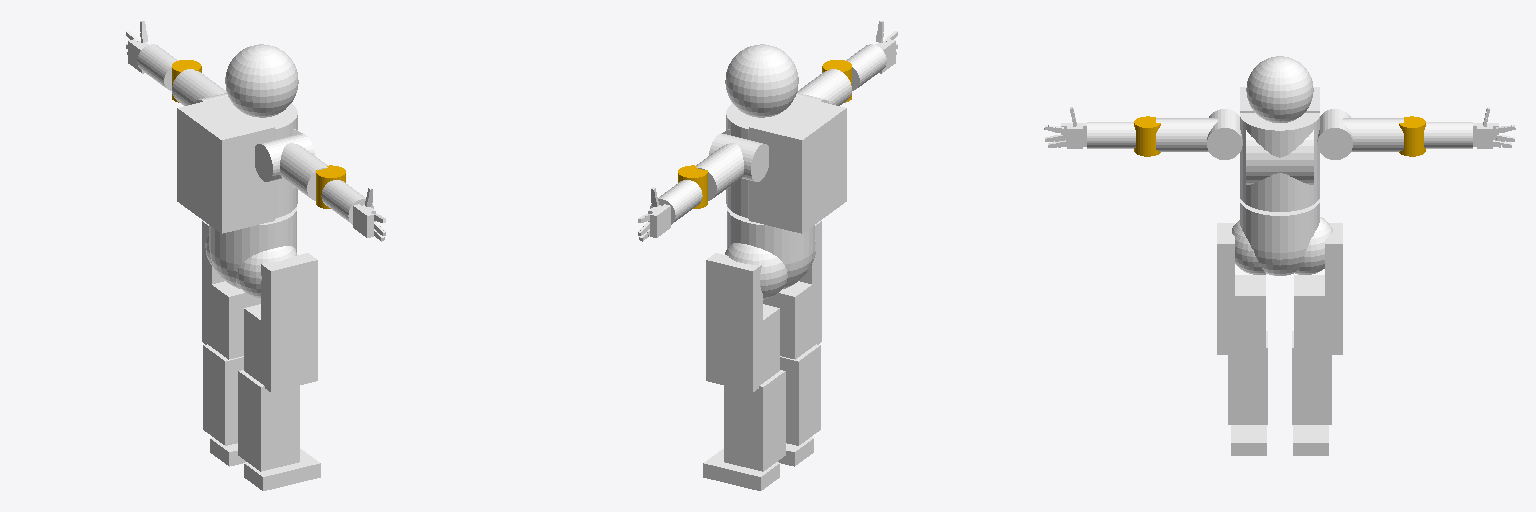
--- Render facts (derived) ---
3 views of the same robot in one strip: view 1: azimuth 30°, elevation 25°; view 2: azimuth 150°, elevation 25°; view 3: azimuth 270°, elevation 25° (orthographic).
Robot: valkyrie — 87 links, 86 joints (32 revolute, 1 continuous, 53 fixed); root link pelvis; default pose: all joints at 0.
Visible links, largest first — view 1: torso, rightHipPitchLink, rightKneePitchLink, upperNeckPitchLink, leftHipPitchLink, pelvis, leftKneePitchLink, rightFoot, rightShoulderPitchLink, rightHipYawLink, rightShoulderYawLink, rightForearmLink (+5 smaller); view 2: torso, leftHipPitchLink, leftKneePitchLink, upperNeckPitchLink, rightHipPitchLink, rightKneePitchLink, pelvis, leftHipYawLink, leftFoot, leftShoulderPitchLink, leftShoulderYawLink, leftForearmLink (+5 smaller); view 3: torso, rightHipPitchLink, leftHipPitchLink, pelvis, upperNeckPitchLink, rightKneePitchLink, leftKneePitchLink, rightShoulderPitchLink, leftShoulderPitchLink, rightShoulderYawLink, leftShoulderYawLink, rightForearmLink (+9 smaller).
Boxes of the visible links, x1,y1,x2,y2 form: torso: (177,96,301,233); rightHipPitchLink: (244,253,317,391); rightKneePitchLink: (238,370,299,471); upperNeckPitchLink: (225,44,298,117); leftHipPitchLink: (202,221,260,359); pelvis: (209,207,296,288); leftKneePitchLink: (203,344,243,445); rightFoot: (244,449,320,490); rightShoulderPitchLink: (255,133,314,181); rightHipYawLink: (236,246,296,297); rightShoulderYawLink: (284,150,327,200); rightForearmLink: (321,180,373,224); torso: (722,96,846,233); leftHipPitchLink: (706,253,779,391); leftKneePitchLink: (724,370,785,471); upperNeckPitchLink: (725,44,798,117); rightHipPitchLink: (763,221,821,359); rightKneePitchLink: (780,344,820,445); pelvis: (727,207,814,288); leftHipYawLink: (725,243,787,299); leftFoot: (703,449,779,490); leftShoulderPitchLink: (709,133,768,181); leftShoulderYawLink: (696,150,740,200); leftForearmLink: (650,180,702,224); torso: (1240,87,1319,211); rightHipPitchLink: (1217,223,1265,354); leftHipPitchLink: (1294,223,1342,354); pelvis: (1240,199,1319,275); upperNeckPitchLink: (1246,56,1313,122); rightKneePitchLink: (1228,331,1267,424); leftKneePitchLink: (1292,331,1331,424); rightShoulderPitchLink: (1207,109,1242,159); leftShoulderPitchLink: (1317,109,1352,159); rightShoulderYawLink: (1156,118,1200,151); leftShoulderYawLink: (1359,118,1403,151); rightForearmLink: (1087,122,1135,148).
Size in the robot's own frame: 0.444 by 2.1 by 1.88 metres.
Geometry: primitives only (box / cylinder / sphere), no mesh files.

robot.urdf — valkyrie:
<?xml version="1.0" ?>
<!-- =================================================================================== -->
<!-- |    This document was autogenerated by xacro from valkyrie_A_sim.xacro           | -->
<!-- |    EDITING THIS FILE BY HAND IS NOT RECOMMENDED                                 | -->
<!-- =================================================================================== -->
<robot name="valkyrie" xmlns:xacro="http://ros.org/wiki/xacro">
  <material name="Gold">
    <color rgba="1.0 0.75 0.01 1.0"/>
  </material>
  <material name="White">
    <color rgba="1.0 1.0 1.0 1.0"/>
  </material>
  <link name="pelvis">
    <inertial>
      <mass value="8.22"/>
      <origin rpy="0 0 0" xyz="-0.00532 -0.003512 -0.0036"/>
      <inertia ixx="0.11866378" ixy="-0.000143482" ixz="0.003271293" iyy="0.097963425" iyz="0.002159545" izz="0.083854638"/>
    </inertial>
    <visual>
      <geometry>
        <cylinder length="0.18" radius="0.18"/>
      </geometry>
      <origin rpy="0 0 0" xyz="0 0 -0.09"/>
      <material name="White"/>
    </visual>
    <visual>
      <geometry>
        <sphere radius="0.18"/>
      </geometry>
      <origin xyz="0 0 -0.18"/>
      <material name="White"/>
    </visual>
    <collision>
      <geometry>
        <cylinder length="0.18" radius="0.18"/>
      </geometry>
      <origin rpy="0 0 0" xyz="0 0 -0.09"/>
    </collision>
    <collision>
      <geometry>
        <sphere radius="0.18"/>
      </geometry>
      <origin xyz="0 0 -0.18"/>
    </collision>
  </link>
  <link name="torsoYawLink">
    <inertial>
      <mass value="0.5"/>
      <origin rpy="0 0 0" xyz="0.000000 0.000000 -0.010000"/>
      <inertia ixx="0.000608427" ixy="-1.172e-06" ixz="1.647e-06" iyy="0.000620328" iyz="-2.33e-07" izz="0.001078108"/>
    </inertial>
  </link>
  <link name="torsoPitchLink">
    <inertial>
      <mass value="0.1"/>
      <origin rpy="0 0 0" xyz="0.000000 0.000000  0.005000"/>
      <inertia ixx="3.032e-05" ixy="0.0" ixz="-1.145e-06" iyy="2.1274e-05" iyz="0.0" izz="2.8285e-05"/>
    </inertial>
  </link>
  <link name="torso">
    <inertial>
      <mass value="39.47"/>
      <origin rpy="0 0 0" xyz="-0.095548 -0.003337 0.243098"/>
      <inertia ixx="0.87326933" ixy="9.9563e-05" ixz="0.061345211" iyy="1.0108485" iyz="0.00181849" izz="0.77839801"/>
    </inertial>
    <visual>
      <geometry>
        <cylinder length="0.4" radius="0.18"/>
      </geometry>
      <origin rpy="0 0 0" xyz="-0.04 0 0.2"/>
      <material name="White"/>
    </visual>
    <visual>
      <geometry>
        <cylinder length="0.3" radius="0.15"/>
      </geometry>
      <origin rpy="1.57079632679 0 0" xyz="-0.005 0 0.23"/>
      <material name="White"/>
    </visual>
    <visual>
      <geometry>
        <box size="0.25 0.36 0.42"/>
      </geometry>
      <origin rpy="0 0 0" xyz="-0.17 0 0.20"/>
      <material name="White"/>
    </visual>
    <collision>
      <geometry>
        <cylinder length="0.4" radius="0.18"/>
      </geometry>
      <origin rpy="0 0 0" xyz="-0.04 0 0.2"/>
    </collision>
    <collision>
      <geometry>
        <cylinder length="0.3" radius="0.15"/>
      </geometry>
      <origin rpy="1.57079632679 0 0" xyz="-0.005 0 0.23"/>
    </collision>
    <collision>
      <geometry>
        <box size="0.25 0.36 0.42"/>
      </geometry>
      <origin rpy="0 0 0" xyz="-0.17 0 0.20"/>
    </collision>
  </link>
  <joint name="torsoYaw" type="revolute">
    <origin rpy="0.0 0.0 0.0" xyz="0.0 0.0 0.0"/>
    <axis xyz="0 0 1"/>
    <parent link="pelvis"/>
    <child link="torsoYawLink"/>
    <limit effort="190" lower="-1.329" upper="1.181" velocity="5.89"/>
    <controller_gains Kd="400" Kp="20000"/>
    <dynamics damping="0.1" friction="0.0"/>
  </joint>
  <gazebo reference="torsoYaw">
    <provideFeedback>1</provideFeedback>
    <implicitSpringDamper>1</implicitSpringDamper>
  </gazebo>
  <joint name="torsoPitch" type="revolute">
    <origin rpy="0.0 0.0 0.0" xyz="0.04191 0.0 0.0"/>
    <axis xyz="0 1 0"/>
    <parent link="torsoYawLink"/>
    <child link="torsoPitchLink"/>
    <limit effort="150" lower="-0.13" upper="0.666" velocity="9"/>
    <controller_gains Kd="400" Kp="20000"/>
    <dynamics damping="0.1" friction="0.0"/>
  </joint>
  <gazebo reference="torsoPitch">
    <provideFeedback>1</provideFeedback>
    <implicitSpringDamper>1</implicitSpringDamper>
  </gazebo>
  <joint name="torsoRoll" type="revolute">
    <origin rpy="0.0 0.0 0.0" xyz="0.0 0.0 0.0203"/>
    <axis xyz="1 0 0"/>
    <parent link="torsoPitchLink"/>
    <child link="torso"/>
    <limit effort="150" lower="-0.23" upper="0.255" velocity="9"/>
    <controller_gains Kd="400" Kp="20000"/>
    <dynamics damping="0.1" friction="0.0"/>
  </joint>
  <gazebo reference="torsoRoll">
    <provideFeedback>1</provideFeedback>
    <implicitSpringDamper>1</implicitSpringDamper>
  </gazebo>
  <link name="lowerNeckPitchLink">
    <inertial>
      <mass value="1.05"/>
      <origin rpy="0 0 0" xyz="-0.020000 0.000000  0.040000"/>
      <inertia ixx="0.001470716" ixy="-0.000126021" ixz="0.000632521" iyy="0.001851919" iyz="0.000243012" izz="0.000832117"/>
    </inertial>
  </link>
  <link name="neckYawLink">
    <inertial>
      <mass value="1.4"/>
      <origin rpy="0 0 0" xyz="-0.030000  -0.010000 0.150000"/>
      <inertia ixx="0.001997698" ixy="-0.000180062" ixz="0.000723677" iyy="0.002919928" iyz="0.000246467" izz="0.002119751"/>
    </inertial>
  </link>
  <link name="upperNeckPitchLink">
    <inertial>
      <mass value="4.59"/>
      <origin rpy="0 0 0" xyz="0.100912 0.005783 0.034787"/>
      <inertia ixx="0.039847525" ixy="-0.000470418" ixz="-0.002829842" iyy="0.041418564" iyz="-0.000782564" izz="0.036841236"/>
    </inertial>
    <visual>
      <geometry>
        <sphere radius="0.15"/>
      </geometry>
      <origin xyz="0.09 0 0"/>
      <material name="White"/>
    </visual>
    <collision>
      <geometry>
        <sphere radius="0.15"/>
      </geometry>
      <origin xyz="0.09 0 0"/>
    </collision>
  </link>
  <joint name="lowerNeckPitch" type="revolute">
    <origin rpy="0.0 0.0 0.0" xyz="0.0203518 0.0 0.33845"/>
    <axis xyz="0 1 0"/>
    <parent link="torso"/>
    <child link="lowerNeckPitchLink"/>
    <limit effort="26" lower="0" upper="1.162" velocity="5"/>
    <controller_gains Kd="0" Kp="20000"/>
    <dynamics damping="0.1" friction="0.0"/>
  </joint>
  <gazebo reference="lowerNeckPitch">
    <provideFeedback>1</provideFeedback>
    <implicitSpringDamper>1</implicitSpringDamper>
  </gazebo>
  <joint name="neckYaw" type="revolute">
    <origin rpy="0.0 0.0 0.0" xyz="-0.051924 0.0 0.0"/>
    <axis xyz="0 0 1"/>
    <parent link="lowerNeckPitchLink"/>
    <child link="neckYawLink"/>
    <limit effort="26" lower="-1.04719755" upper="1.04719755" velocity="5"/>
    <controller_gains Kd="0" Kp="20000"/>
    <dynamics damping="0.1" friction="0.0"/>
  </joint>
  <gazebo reference="neckYaw">
    <provideFeedback>1</provideFeedback>
    <implicitSpringDamper>1</implicitSpringDamper>
  </gazebo>
  <joint name="upperNeckPitch" type="revolute">
    <origin rpy="0.0 0.0 0.0" xyz="-0.06 0 0.195997"/>
    <axis xyz="0 1 0"/>
    <parent link="neckYawLink"/>
    <child link="upperNeckPitchLink"/>
    <limit effort="26" lower="-0.872" upper="0.0" velocity="5"/>
    <controller_gains Kd="0" Kp="20000"/>
    <dynamics damping="0.1" friction="0.0"/>
  </joint>
  <gazebo reference="upperNeckPitch">
    <provideFeedback>1</provideFeedback>
    <implicitSpringDamper>1</implicitSpringDamper>
  </gazebo>
  <link name="rightShoulderPitchLink">
    <inertial>
      <mass value="2.65"/>
      <origin rpy="0 0 0" xyz="-0.012000 -0.251 0.000000"/>
      <inertia ixx="0.013718167" ixy="0.0" ixz="0.0" iyy="0.010502833" iyz="0.0" izz="0.014806433"/>
    </inertial>
    <visual>
      <geometry>
        <cylinder length="0.2" radius="0.08"/>
      </geometry>
      <origin rpy="0 1.57079632679 0" xyz="-0.006 -0.246 0"/>
      <material name="White"/>
    </visual>
    <collision>
      <geometry>
        <cylinder length="0.2" radius="0.08"/>
      </geometry>
      <origin rpy="0 1.57079632679 0" xyz="-0.006 -0.246 0"/>
    </collision>
  </link>
  <link name="rightShoulderRollLink">
    <inertial>
      <mass value="3.97"/>
      <origin rpy="0 0 0" xyz="-0.008513 -0.02068 0.001088"/>
      <inertia ixx="0.009494119" ixy="-6.7294e-05" ixz="3.7177e-05" iyy="0.007680534" iyz="8.874e-06" izz="0.011454772"/>
    </inertial>
    <visual>
      <geometry>
        <cylinder length="0.12" radius="0.075"/>
      </geometry>
      <origin rpy="1.57079632679 0 0" xyz="0 -0.07 0"/>
      <material name="White"/>
    </visual>
    <collision>
      <geometry>
        <cylinder length="0.12" radius="0.075"/>
      </geometry>
      <origin rpy="1.57079632679 0 0" xyz="0 -0.07 0"/>
    </collision>
  </link>
  <link name="rightShoulderYawLink">
    <inertial>
      <mass value="3.085"/>
      <origin rpy="0 0 0" xyz="-0.004304 -0.209832 -0.007295"/>
      <inertia ixx="0.039355177" ixy="0.007827077" ixz="0.000753947" iyy="0.004905765" iyz="0.002723873" izz="0.041879481"/>
    </inertial>
    <visual>
      <geometry>
        <cylinder length="0.20" radius="0.075"/>
      </geometry>
      <origin rpy="1.57079632679 0 0" xyz="0 -0.2 0"/>
      <material name="White"/>
    </visual>
    <collision>
      <geometry>
        <cylinder length="0.20" radius="0.075"/>
      </geometry>
      <origin rpy="1.57079632679 0 0" xyz="0 -0.2 0"/>
    </collision>
  </link>
  <link name="rightElbowPitchLink">
    <inertial>
      <mass value="1.83"/>
      <origin rpy="0 0 0" xyz="-0.020344 -0.014722 -0.022300"/>
      <inertia ixx="0.004285137" ixy="0.000408334" ixz="-0.003326627" iyy="0.008440601" iyz="0.000140731" izz="0.007469454"/>
    </inertial>
    <visual>
      <geometry>
        <cylinder length="0.141" radius="0.061"/>
      </geometry>
      <origin rpy="0 0 0" xyz="-0.01 -0.008 0"/>
      <material name="Gold"/>
    </visual>
    <collision>
      <geometry>
        <cylinder length="0.141" radius="0.061"/>
      </geometry>
      <origin rpy="0 0 0" xyz="-0.01 -0.008 0"/>
    </collision>
  </link>
  <joint name="rightShoulderPitch" type="revolute">
    <origin rpy="0.0 0.0 0.0" xyz="-0.0316 0.0 0.2984"/>
    <axis xyz="0 1 0"/>
    <parent link="torso"/>
    <child link="rightShoulderPitchLink"/>
    <limit effort="190" lower="-2.85" upper="2.0" velocity="5.89"/>
    <controller_gains Kd="400" Kp="20000"/>
    <dynamics damping="0.1" friction="0.0"/>
  </joint>
  <gazebo reference="rightShoulderPitch">
    <provideFeedback>1</provideFeedback>
    <implicitSpringDamper>1</implicitSpringDamper>
  </gazebo>
  <joint name="rightShoulderRoll" type="revolute">
    <origin rpy="0.0 0.0 0.0" xyz="0.0 -0.2499 0.0"/>
    <axis xyz="1 0 0"/>
    <parent link="rightShoulderPitchLink"/>
    <child link="rightShoulderRollLink"/>
    <limit effort="190" lower="-1.266" upper="1.519" velocity="5.89"/>
    <controller_gains Kd="400" Kp="20000"/>
    <dynamics damping="0.1" friction="0.0"/>
  </joint>
  <gazebo reference="rightShoulderRoll">
    <provideFeedback>1</provideFeedback>
    <implicitSpringDamper>1</implicitSpringDamper>
  </gazebo>
  <joint name="rightShoulderYaw" type="revolute">
    <origin rpy="0.0 0.0 0.0" xyz="0.0 0.0 0.0"/>
    <axis xyz="0 1 0"/>
    <parent link="rightShoulderRollLink"/>
    <child link="rightShoulderYawLink"/>
    <limit effort="65" lower="-3.1" upper="2.18" velocity="11.5"/>
    <controller_gains Kd="400" Kp="20000"/>
    <dynamics damping="0.1" friction="0.0"/>
  </joint>
  <gazebo reference="rightShoulderYaw">
    <provideFeedback>1</provideFeedback>
    <implicitSpringDamper>1</implicitSpringDamper>
  </gazebo>
  <joint name="rightElbowPitch" type="revolute">
    <origin rpy="0.0 0.0 0.0" xyz="0.0254 -0.33 0.0"/>
    <axis xyz="0 0 1"/>
    <parent link="rightShoulderYawLink"/>
    <child link="rightElbowPitchLink"/>
    <limit effort="65" lower="-0.12" upper="2.174" velocity="11.5"/>
    <controller_gains Kd="400" Kp="20000"/>
    <dynamics damping="0.1" friction="0.0"/>
  </joint>
  <gazebo reference="rightElbowPitch">
    <provideFeedback>1</provideFeedback>
    <implicitSpringDamper>1</implicitSpringDamper>
  </gazebo>
  <link name="rightForearmLink">
    <inertial>
      <mass value="2.476"/>
      <origin rpy="0 0 0" xyz="0.015000 -0.13 0.019564"/>
      <inertia ixx="0.015011" ixy="-0.001300853" ixz="-0.000727141" iyy="0.005071567" iyz="-0.001695416" izz="0.011365657"/>
    </inertial>
    <visual>
      <geometry>
        <cylinder length="0.22" radius="0.06"/>
      </geometry>
      <origin rpy="1.57079632679 0 0" xyz="0 -0.17 0"/>
      <material name="White"/>
    </visual>
    <collision>
      <geometry>
        <cylinder length="0.22" radius="0.06"/>
      </geometry>
      <origin rpy="1.57079632679 0 0" xyz="0 -0.17 0"/>
    </collision>
  </link>
  <link name="rightWristRollLink">
    <inertial>
      <mass value="0.14"/>
      <origin rpy="0 0 0" xyz="0 -0.0 0"/>
      <inertia ixx="3.0251e-05" ixy="-1.25e-07" ixz="-3.6e-08" iyy="3.772e-05" iyz="0.0" izz="9.395e-06"/>
    </inertial>
  </link>
  <link name="rightPalm">
    <inertial>
      <mass value="0.712"/>
      <origin rpy="0 0 0" xyz="0.002954 -0.052034 -0.000236"/>
      <inertia ixx="0.000943493" ixy="3.4393e-05" ixz="-3.8828e-05" iyy="0.000711024" iyz="2.3429e-05" izz="0.000610199"/>
    </inertial>
    <visual>
      <geometry>
        <box size="0.03 0.12 0.1"/>
      </geometry>
      <origin rpy="0 0 0" xyz="-0.0225 -0.048 -0.01"/>
      <material name="White"/>
    </visual>
    <visual>
      <geometry>
        <box size="0.025 0.07 0.1"/>
      </geometry>
      <origin rpy="0 0 0" xyz="0.005 -0.045 -0.01"/>
      <material name="White"/>
    </visual>
    <collision>
      <geometry>
        <box size="0.03 0.12 0.1"/>
      </geometry>
      <origin rpy="0 0 0" xyz="-0.0225 -0.048 -0.01"/>
    </collision>
    <collision>
      <geometry>
        <box size="0.025 0.07 0.1"/>
      </geometry>
      <origin rpy="0 0 0" xyz="0.005 -0.045 -0.01"/>
    </collision>
  </link>
  <joint name="rightForearmYaw" type="revolute">
    <origin rpy="0.0 0.0 0.0" xyz="-0.0254 0 0"/>
    <axis xyz="0 1 0"/>
    <parent link="rightElbowPitchLink"/>
    <child link="rightForearmLink"/>
    <limit effort="26" lower="-2.019" upper="3.14" velocity="5"/>
    <controller_gains Kd="0" Kp="20000"/>
    <dynamics damping="0.1" friction="0.0"/>
  </joint>
  <gazebo reference="rightForearmYaw">
    <provideFeedback>1</provideFeedback>
    <implicitSpringDamper>1</implicitSpringDamper>
  </gazebo>
  <joint name="rightWristRoll" type="revolute">
    <origin rpy="0.0 0.0 0.0" xyz="0.0 -0.2871 0.0"/>
    <axis xyz="1 0 0"/>
    <parent link="rightForearmLink"/>
    <child link="rightWristRollLink"/>
    <limit effort="14" lower="-0.625" upper="0.62" velocity="1"/>
    <controller_gains Kd="400" Kp="20000"/>
    <dynamics damping="0.1" friction="0.0"/>
  </joint>
  <gazebo reference="rightWristRoll">
    <provideFeedback>1</provideFeedback>
    <implicitSpringDamper>1</implicitSpringDamper>
  </gazebo>
  <joint name="rightWristPitch" type="revolute">
    <origin rpy="0.0 0.0 0.0" xyz="0.0 0.0 0.0"/>
    <axis xyz="0 0 1"/>
    <parent link="rightWristRollLink"/>
    <child link="rightPalm"/>
    <limit effort="14" lower="-0.49" upper="0.36" velocity="1"/>
    <controller_gains Kd="400" Kp="20000"/>
    <dynamics damping="0.1" friction="0.0"/>
  </joint>
  <gazebo reference="rightWristPitch">
    <provideFeedback>1</provideFeedback>
    <implicitSpringDamper>1</implicitSpringDamper>
  </gazebo>
  <link name="rightThumbRollLink">
    <inertial>
      <mass value="0.017"/>
      <origin rpy="0 0 0" xyz="0 -0.0 0.01"/>
      <inertia ixx="2.7778767e-06" ixy="5.6718533e-09" ixz="-9.5523207e-08" iyy="3.5462642e-06" iyz="3.663718e-08" izz="1.3553297e-06"/>
    </inertial>
  </link>
  <link name="rightThumbPitch1Link">
    <inertial>
      <mass value="0.02"/>
      <origin rpy="0 0 0" xyz="0.0 -0.005 0.02"/>
      <inertia ixx="4.239e-06" ixy="0.0" ixz="-0.0" iyy="4.582e-06" iyz="0.0" izz="1.47e-06"/>
    </inertial>
    <visual>
      <geometry>
        <box size="0.025 0.015 0.04"/>
      </geometry>
      <origin rpy="0.2 0 0" xyz="0 -0.005 0.025"/>
      <material name="White"/>
    </visual>
    <collision>
      <geometry>
        <box size="0.025 0.015 0.04"/>
      </geometry>
      <origin rpy="0.2 0 0" xyz="0 -0.005 0.025"/>
    </collision>
  </link>
  <link name="rightThumbPitch2Link">
    <inertial>
      <mass value="0.013"/>
      <origin rpy="0 0 0" xyz="0 -0.004 0.017"/>
      <inertia ixx="1.266e-06" ixy="0.0" ixz="-0.0" iyy="1.503e-06" iyz="-0.0" izz="6.99e-07"/>
    </inertial>
    <visual>
      <geometry>
        <box size="0.020 0.015 0.03"/>
      </geometry>
      <origin rpy="0.2 0 0" xyz="0 -0.005 0.02"/>
      <material name="White"/>
    </visual>
    <collision>
      <geometry>
        <box size="0.020 0.015 0.03"/>
      </geometry>
      <origin rpy="0.2 0 0" xyz="0 -0.005 0.02"/>
    </collision>
  </link>
  <link name="rightThumbPitch3Link">
    <inertial>
      <mass value="0.006"/>
      <origin rpy="0 0 0" xyz="0 -0.004 0.01"/>
      <inertia ixx="3.22e-07" ixy="0.0" ixz="0.0" iyy="4.06e-07" iyz="0.0" izz="2.1e-07"/>
    </inertial>
    <visual>
      <geometry>
        <box size="0.017 0.015 0.022"/>
      </geometry>
      <origin rpy="0.2 0 0" xyz="0 -0.005 0.016"/>
      <material name="White"/>
    </visual>
    <collision>
      <geometry>
        <box size="0.017 0.015 0.022"/>
      </geometry>
      <origin rpy="0.2 0 0" xyz="0 -0.005 0.016"/>
    </collision>
  </link>
  <joint name="rightThumbRoll" type="fixed">
    <origin rpy="0.3491 0.0 0.0" xyz="0.0049 -0.0351 0.0228"/>
    <axis xyz="0 0 1"/>
    <parent link="rightPalm"/>
    <child link="rightThumbRollLink"/>
  </joint>
  <gazebo reference="rightThumbRoll">
    <implicitSpringDamper>1</implicitSpringDamper>
  </gazebo>
  <joint name="rightThumbPitch1" type="fixed">
    <origin rpy="-0.3491 0.0 0.0" xyz="0.0 0.0 0.0229"/>
    <axis xyz="0 0 1"/>
    <parent link="rightThumbRollLink"/>
    <child link="rightThumbPitch1Link"/>
  </joint>
  <gazebo reference="rightThumbPitch1">
    <implicitSpringDamper>1</implicitSpringDamper>
  </gazebo>
  <joint name="rightThumbPitch2" type="fixed">
    <origin rpy="0.0 0.0 0.0" xyz="0.0 -0.0066 0.0375"/>
    <axis xyz="0 0 1"/>
    <parent link="rightThumbPitch1Link"/>
    <child link="rightThumbPitch2Link"/>
  </joint>
  <gazebo reference="rightThumbPitch2">
    <implicitSpringDamper>1</implicitSpringDamper>
  </gazebo>
  <joint name="rightThumbPitch3" type="fixed">
    <origin rpy="0.0 0.0 0.0" xyz="0.0 -0.0049 0.0275"/>
    <axis xyz="0 0 1"/>
    <parent link="rightThumbPitch2Link"/>
    <child link="rightThumbPitch3Link"/>
  </joint>
  <gazebo reference="rightThumbPitch3">
    <implicitSpringDamper>1</implicitSpringDamper>
  </gazebo>
  <link name="rightIndexFingerPitch1Link">
    <inertial>
      <mass value="0.02"/>
      <origin rpy="0 0 0" xyz="0 -0.02 0"/>
      <inertia ixx="4.232e-06" ixy="-6e-08" ixz="-8e-09" iyy="1.215e-06" iyz="-7e-09" izz="3.892e-06"/>
    </inertial>
    <visual>
      <geometry>
        <box size="0.015 0.04 0.025"/>
      </geometry>
      <origin rpy="0 0 0" xyz="0 -0.02 0"/>
      <material name="White"/>
    </visual>
    <collision>
      <geometry>
        <box size="0.015 0.04 0.025"/>
      </geometry>
      <origin rpy="0 0 0" xyz="0 -0.02 0"/>
    </collision>
  </link>
  <link name="rightIndexFingerPitch2Link">
    <inertial>
      <mass value="0.018"/>
      <origin rpy="0 0 0" xyz="0 -0.013 0"/>
      <inertia ixx="1.562e-06" ixy="-1.7e-08" ixz="-1.3e-08" iyy="7.22e-07" iyz="3.1e-08" izz="1.255e-06"/>
    </inertial>
    <visual>
      <geometry>
        <box size="0.015 0.03 0.020"/>
      </geometry>
      <origin rpy="0 0 0" xyz="0 -0.015 0"/>
      <material name="White"/>
    </visual>
    <collision>
      <geometry>
        <box size="0.015 0.03 0.020"/>
      </geometry>
      <origin rpy="0 0 0" xyz="0 -0.015 0"/>
    </collision>
  </link>
  <link name="rightIndexFingerPitch3Link">
    <inertial>
      <mass value="0.01"/>
      <origin rpy="0 0 0" xyz="0 -0.01 0"/>
      <inertia ixx="6.02e-07" ixy="-2.4e-08" ixz="0.0" iyy="2.09e-07" iyz="1.7e-08" izz="5.02e-07"/>
    </inertial>
    <visual>
      <geometry>
        <box size="0.015 0.022 0.017"/>
      </geometry>
      <origin rpy="0 0 0" xyz="0 -0.011 0"/>
      <material name="White"/>
    </visual>
    <collision>
      <geometry>
        <box size="0.015 0.022 0.017"/>
      </geometry>
      <origin rpy="0 0 0" xyz="0 -0.011 0"/>
    </collision>
  </link>
  <joint name="rightIndexFingerPitch1" type="fixed">
    <origin rpy="-0.1745 0.0 0.0" xyz="0.0022 -0.0976 0.0235"/>
    <axis xyz="0 0 1"/>
    <parent link="rightPalm"/>
    <child link="rightIndexFingerPitch1Link"/>
  </joint>
  <gazebo reference="rightIndexFingerPitch1">
    <implicitSpringDamper>1</implicitSpringDamper>
  </gazebo>
  <joint name="rightIndexFingerPitch2" type="fixed">
    <origin rpy="0.0 0.0 0.0" xyz="0.0 -0.0381 0.0"/>
    <axis xyz="0 0 1"/>
    <parent link="rightIndexFingerPitch1Link"/>
    <child link="rightIndexFingerPitch2Link"/>
  </joint>
  <gazebo reference="rightIndexFingerPitch2">
    <implicitSpringDamper>1</implicitSpringDamper>
  </gazebo>
  <joint name="rightIndexFingerPitch3" type="fixed">
    <origin rpy="0.0 0.0 0.0" xyz="0.0 -0.0229 0"/>
    <axis xyz="0 0 1"/>
    <parent link="rightIndexFingerPitch2Link"/>
    <child link="rightIndexFingerPitch3Link"/>
  </joint>
  <gazebo reference="rightIndexFingerPitch3">
    <implicitSpringDamper>1</implicitSpringDamper>
  </gazebo>
  <link name="rightMiddleFingerPitch1Link">
    <inertial>
      <mass value="0.02"/>
      <origin rpy="0 0 0" xyz="0 -0.02 0"/>
      <inertia ixx="5.148e-06" ixy="-4.2e-08" ixz="-1.1e-08" iyy="1.322e-06" iyz="-4e-09" izz="4.592e-06"/>
    </inertial>
    <visual>
      <geometry>
        <box size="0.015 0.04 0.025"/>
      </geometry>
      <origin rpy="0 0 0" xyz="0 -0.02 0"/>
      <material name="White"/>
    </visual>
    <collision>
      <geometry>
        <box size="0.015 0.04 0.025"/>
      </geometry>
      <origin rpy="0 0 0" xyz="0 -0.02 0"/>
    </collision>
  </link>
  <link name="rightMiddleFingerPitch2Link">
    <inertial>
      <mass value="0.011"/>
      <origin rpy="0 0 0" xyz="0 -0.013 0"/>
      <inertia ixx="1.97e-06" ixy="3.4e-08" ixz="-1.1e-08" iyy="5.54e-07" iyz="-7.8e-08" izz="2.272e-06"/>
    </inertial>
    <visual>
      <geometry>
        <box size="0.015 0.03 0.020"/>
      </geometry>
      <origin rpy="0 0 0" xyz="0 -0.015 0"/>
      <material name="White"/>
    </visual>
    <collision>
      <geometry>
        <box size="0.015 0.03 0.020"/>
      </geometry>
      <origin rpy="0 0 0" xyz="0 -0.015 0"/>
    </collision>
  </link>
  <link name="rightMiddleFingerPitch3Link">
    <inertial>
      <mass value="0.006"/>
      <origin rpy="0 0 0" xyz="0 -0.01 0"/>
      <inertia ixx="3.96e-07" ixy="-9e-09" ixz="-1e-09" iyy="1.6e-07" iyz="1.6e-08" izz="3.03e-07"/>
    </inertial>
    <visual>
      <geometry>
        <box size="0.015 0.022 0.017"/>
      </geometry>
      <origin rpy="0 0 0" xyz="0 -0.011 0"/>
      <material name="White"/>
    </visual>
    <collision>
      <geometry>
        <box size="0.015 0.022 0.017"/>
      </geometry>
      <origin rpy="0 0 0" xyz="0 -0.011 0"/>
    </collision>
  </link>
  <joint name="rightMiddleFingerPitch1" type="fixed">
    <origin rpy="0.1222 0.0 0.0" xyz="0.0022 -0.097 -0.0119"/>
    <axis xyz="0 0 1"/>
    <parent link="rightPalm"/>
    <child link="rightMiddleFingerPitch1Link"/>
  </joint>
  <gazebo reference="rightMiddleFingerPitch1">
    <implicitSpringDamper>1</implicitSpringDamper>
  </gazebo>
  <joint name="rightMiddleFingerPitch2" type="fixed">
    <origin rpy="0.0 0.0 0.0" xyz="0.0 -0.0381 0.0"/>
    <axis xyz="0 0 1"/>
    <parent link="rightMiddleFingerPitch1Link"/>
    <child link="rightMiddleFingerPitch2Link"/>
  </joint>
  <gazebo reference="rightMiddleFingerPitch2">
    <implicitSpringDamper>1</implicitSpringDamper>
  </gazebo>
  <joint name="rightMiddleFingerPitch3" type="fixed">
    <origin rpy="0.0 0.0 0.0" xyz="0.0 -0.0229 0.0"/>
    <axis xyz="0 0 1"/>
    <parent link="rightMiddleFingerPitch2Link"/>
    <child link="rightMiddleFingerPitch3Link"/>
  </joint>
  <gazebo reference="rightMiddleFingerPitch3">
    <implicitSpringDamper>1</implicitSpringDamper>
  </gazebo>
  <link name="rightPinkyPitch1Link">
    <inertial>
      <mass value="0.02"/>
      <origin rpy="0 0 0" xyz="0 -0.02 0"/>
      <inertia ixx="5.148e-06" ixy="-4.2e-08" ixz="-1.1e-08" iyy="1.322e-06" iyz="-4e-09" izz="4.592e-06"/>
    </inertial>
    <visual>
      <geometry>
        <box size="0.015 0.04 0.025"/>
      </geometry>
      <origin rpy="0 0 0" xyz="0 -0.02 0"/>
      <material name="White"/>
    </visual>
    <collision>
      <geometry>
        <box size="0.015 0.04 0.025"/>
      </geometry>
      <origin rpy="0 0 0" xyz="0 -0.02 0"/>
    </collision>
  </link>
  <link name="rightPinkyPitch2Link">
    <inertial>
      <mass value="0.011"/>
      <origin rpy="0 0 0" xyz="0 -0.013 0"/>
      <inertia ixx="1.97e-06" ixy="3.4e-08" ixz="-1.1e-08" iyy="5.54e-07" iyz="-7.8e-08" izz="2.272e-06"/>
    </inertial>
    <visual>
      <geometry>
        <box size="0.015 0.03 0.020"/>
      </geometry>
      <origin rpy="0 0 0" xyz="0 -0.015 0"/>
      <material name="White"/>
    </visual>
    <collision>
      <geometry>
        <box size="0.015 0.03 0.020"/>
      </geometry>
      <origin rpy="0 0 0" xyz="0 -0.015 0"/>
    </collision>
  </link>
  <link name="rightPinkyPitch3Link">
    <inertial>
      <mass value="0.006"/>
      <origin rpy="0 0 0" xyz="0 -0.01 0"/>
      <inertia ixx="3.96e-07" ixy="-9e-09" ixz="-1e-09" iyy="1.6e-07" iyz="1.6e-08" izz="3.03e-07"/>
    </inertial>
    <visual>
      <geometry>
        <box size="0.015 0.022 0.017"/>
      </geometry>
      <origin rpy="0 0 0" xyz="0 -0.011 0"/>
      <material name="White"/>
    </visual>
    <collision>
      <geometry>
        <box size="0.015 0.022 0.017"/>
      </geometry>
      <origin rpy="0 0 0" xyz="0 -0.011 0"/>
    </collision>
  </link>
  <joint name="rightPinkyPitch1" type="fixed">
    <origin rpy="0.1222 0.0 0.0" xyz="0.0022 -0.0838 -0.041"/>
    <axis xyz="0 0 1"/>
    <parent link="rightPalm"/>
    <child link="rightPinkyPitch1Link"/>
  </joint>
  <gazebo reference="rightPinkyPitch1">
    <implicitSpringDamper>1</implicitSpringDamper>
  </gazebo>
  <joint name="rightPinkyPitch2" type="fixed">
    <origin rpy="0.0 0.0 0.0" xyz="0.0 -0.0381 0.0"/>
    <axis xyz="0 0 1"/>
    <parent link="rightPinkyPitch1Link"/>
    <child link="rightPinkyPitch2Link"/>
  </joint>
  <gazebo reference="rightPinkyPitch2">
    <implicitSpringDamper>1</implicitSpringDamper>
  </gazebo>
  <joint name="rightPinkyPitch3" type="fixed">
    <origin rpy="0.0 0.0 0.0" xyz="0.0 -0.0229 0.0"/>
    <axis xyz="0 0 1"/>
    <parent link="rightPinkyPitch2Link"/>
    <child link="rightPinkyPitch3Link"/>
  </joint>
  <gazebo reference="rightPinkyPitch3">
    <implicitSpringDamper>1</implicitSpringDamper>
  </gazebo>
  <link name="leftShoulderPitchLink">
    <inertial>
      <mass value="2.65"/>
      <origin rpy="0 0 0" xyz="-0.012000 0.251 0.000000"/>
      <inertia ixx="0.013718167" ixy="0.0" ixz="0.0" iyy="0.010502833" iyz="0.0" izz="0.014806433"/>
    </inertial>
    <visual>
      <geometry>
        <cylinder length="0.2" radius="0.08"/>
      </geometry>
      <origin rpy="0 1.57079632679 0" xyz="-0.006 0.246 0"/>
      <material name="White"/>
    </visual>
    <collision>
      <geometry>
        <cylinder length="0.2" radius="0.08"/>
      </geometry>
      <origin rpy="0 1.57079632679 0" xyz="-0.006 0.246 0"/>
    </collision>
  </link>
  <link name="leftShoulderRollLink">
    <inertial>
      <mass value="3.97"/>
      <origin rpy="0 0 0" xyz="-0.008513 0.02068 0.001088"/>
      <inertia ixx="0.009494119" ixy="6.7294e-05" ixz="-3.7177e-05" iyy="0.007680534" iyz="8.874e-06" izz="0.011454772"/>
    </inertial>
    <visual>
      <geometry>
        <cylinder length="0.12" radius="0.075"/>
      </geometry>
      <origin rpy="1.57079632679 0 0" xyz="0 0.07 0"/>
      <material name="White"/>
    </visual>
    <collision>
      <geometry>
        <cylinder length="0.12" radius="0.075"/>
      </geometry>
      <origin rpy="1.57079632679 0 0" xyz="0 0.07 0"/>
    </collision>
  </link>
  <link name="leftShoulderYawLink">
    <inertial>
      <mass value="3.085"/>
      <origin rpy="0 0 0" xyz="-0.004304 0.209832 -0.007295"/>
      <inertia ixx="0.039355177" ixy="0.007827077" ixz="-0.000753947" iyy="0.004905765" iyz="-0.002723873" izz="0.041879481"/>
    </inertial>
    <visual>
      <geometry>
        <cylinder length="0.20" radius="0.075"/>
      </geometry>
      <origin rpy="1.57079632679 0 0" xyz="0 0.2 0"/>
      <material name="White"/>
    </visual>
    <collision>
      <geometry>
        <cylinder length="0.20" radius="0.075"/>
      </geometry>
      <origin rpy="1.57079632679 0 0" xyz="0 0.2 0"/>
    </collision>
  </link>
  <link name="leftElbowPitchLink">
    <inertial>
      <mass value="1.83"/>
      <origin rpy="0 0 0" xyz="-0.020344 0.014722 -0.022300"/>
      <inertia ixx="0.004285137" ixy="-0.000408334" ixz="0.003326627" iyy="0.008440601" iyz="0.000140731" izz="0.007469454"/>
    </inertial>
    <visual>
      <geometry>
        <cylinder length="0.141" radius="0.061"/>
      </geometry>
      <origin rpy="0 0 0" xyz="-0.01 0.008 0"/>
      <material name="Gold"/>
    </visual>
    <collision>
      <geometry>
        <cylinder length="0.141" radius="0.061"/>
      </geometry>
      <origin rpy="0 0 0" xyz="-0.01 0.008 0"/>
    </collision>
  </link>
  <joint name="leftShoulderPitch" type="revolute">
    <origin rpy="0.0 0.0 0.0" xyz="-0.0316 0.0 0.2984"/>
    <axis xyz="0 1 0"/>
    <parent link="torso"/>
    <child link="leftShoulderPitchLink"/>
    <limit effort="190" lower="-2.85" upper="2.0" velocity="5.89"/>
    <controller_gains Kd="400" Kp="20000"/>
    <dynamics damping="0.1" friction="0.0"/>
  </joint>
  <gazebo reference="leftShoulderPitch">
    <provideFeedback>1</provideFeedback>
    <implicitSpringDamper>1</implicitSpringDamper>
  </gazebo>
  <joint name="leftShoulderRoll" type="revolute">
    <origin rpy="0.0 0.0 0.0" xyz="0.0 0.2499 0.0"/>
    <axis xyz="1 0 0"/>
    <parent link="leftShoulderPitchLink"/>
    <child link="leftShoulderRollLink"/>
    <limit effort="190" lower="-1.519" upper="1.266" velocity="5.89"/>
    <controller_gains Kd="400" Kp="20000"/>
    <dynamics damping="0.1" friction="0.0"/>
  </joint>
  <gazebo reference="leftShoulderRoll">
    <provideFeedback>1</provideFeedback>
    <implicitSpringDamper>1</implicitSpringDamper>
  </gazebo>
  <joint name="leftShoulderYaw" type="revolute">
    <origin rpy="0.0 0.0 0.0" xyz="0.0 0.0 0.0"/>
    <axis xyz="0 1 0"/>
    <parent link="leftShoulderRollLink"/>
    <child link="leftShoulderYawLink"/>
    <limit effort="65" lower="-3.1" upper="2.18" velocity="11.5"/>
    <controller_gains Kd="400" Kp="20000"/>
    <dynamics damping="0.1" friction="0.0"/>
  </joint>
  <gazebo reference="leftShoulderYaw">
    <provideFeedback>1</provideFeedback>
    <implicitSpringDamper>1</implicitSpringDamper>
  </gazebo>
  <joint name="leftElbowPitch" type="revolute">
    <origin rpy="0.0 0.0 0.0" xyz="0.0254 0.33 0.0"/>
    <axis xyz="0 0 1"/>
    <parent link="leftShoulderYawLink"/>
    <child link="leftElbowPitchLink"/>
    <limit effort="65" lower="-2.174" upper="0.12" velocity="11.5"/>
    <controller_gains Kd="400" Kp="20000"/>
    <dynamics damping="0.1" friction="0.0"/>
  </joint>
  <gazebo reference="leftElbowPitch">
    <provideFeedback>1</provideFeedback>
    <implicitSpringDamper>1</implicitSpringDamper>
  </gazebo>
  <link name="leftForearmLink">
    <inertial>
      <mass value="2.476"/>
      <origin rpy="0 0 0" xyz="0.015000 0.13 0.019564"/>
      <inertia ixx="0.015011" ixy="0.001300853" ixz="0.000727141" iyy="0.005071567" iyz="-0.001695416" izz="0.011365657"/>
    </inertial>
    <visual>
      <geometry>
        <cylinder length="0.22" radius="0.06"/>
      </geometry>
      <origin rpy="1.57079632679 0 0" xyz="0 0.17 0"/>
      <material name="White"/>
    </visual>
    <collision>
      <geometry>
        <cylinder length="0.22" radius="0.06"/>
      </geometry>
      <origin rpy="1.57079632679 0 0" xyz="0 0.17 0"/>
    </collision>
  </link>
  <link name="leftWristRollLink">
    <inertial>
      <mass value="0.14"/>
      <origin rpy="0 0 0" xyz="0 0.0 0"/>
      <inertia ixx="3.0251e-05" ixy="1.25e-07" ixz="3.6e-08" iyy="3.772e-05" iyz="0.0" izz="9.395e-06"/>
    </inertial>
  </link>
  <link name="leftPalm">
    <inertial>
      <mass value="0.712"/>
      <origin rpy="0 0 0" xyz="0.002954 0.052034 -0.000236"/>
      <inertia ixx="0.000943493" ixy="3.4393e-05" ixz="3.8828e-05" iyy="0.000711024" iyz="-2.3429e-05" izz="0.000610199"/>
    </inertial>
    <visual>
      <geometry>
        <box size="0.03 0.12 0.1"/>
      </geometry>
      <origin rpy="0 0 0" xyz="-0.0225 0.048 -0.01"/>
      <material name="White"/>
    </visual>
    <visual>
      <geometry>
        <box size="0.025 0.07 0.1"/>
      </geometry>
      <origin rpy="0 0 0" xyz="0.005 0.045 -0.01"/>
      <material name="White"/>
    </visual>
    <collision>
      <geometry>
        <box size="0.03 0.12 0.1"/>
      </geometry>
      <origin rpy="0 0 0" xyz="-0.0225 0.048 -0.01"/>
    </collision>
    <collision>
      <geometry>
        <box size="0.025 0.07 0.1"/>
      </geometry>
      <origin rpy="0 0 0" xyz="0.005 0.045 -0.01"/>
    </collision>
  </link>
  <joint name="leftForearmYaw" type="revolute">
    <origin rpy="0.0 0.0 0.0" xyz="-0.0254 0 0"/>
    <axis xyz="0 1 0"/>
    <parent link="leftElbowPitchLink"/>
    <child link="leftForearmLink"/>
    <limit effort="26" lower="-2.019" upper="3.14" velocity="5"/>
    <controller_gains Kd="0" Kp="20000"/>
    <dynamics damping="0.1" friction="0.0"/>
  </joint>
  <gazebo reference="leftForearmYaw">
    <provideFeedback>1</provideFeedback>
    <implicitSpringDamper>1</implicitSpringDamper>
  </gazebo>
  <joint name="leftWristRoll" type="revolute">
    <origin rpy="0.0 0.0 0.0" xyz="0.0 0.2871 0.0"/>
    <axis xyz="1 0 0"/>
    <parent link="leftForearmLink"/>
    <child link="leftWristRollLink"/>
    <limit effort="14" lower="-0.62" upper="0.625" velocity="1"/>
    <controller_gains Kd="400" Kp="20000"/>
    <dynamics damping="0.1" friction="0.0"/>
  </joint>
  <gazebo reference="leftWristRoll">
    <provideFeedback>1</provideFeedback>
    <implicitSpringDamper>1</implicitSpringDamper>
  </gazebo>
  <joint name="leftWristPitch" type="revolute">
    <origin rpy="0.0 0.0 0.0" xyz="0.0 0.0 0.0"/>
    <axis xyz="0 0 1"/>
    <parent link="leftWristRollLink"/>
    <child link="leftPalm"/>
    <limit effort="14" lower="-0.36" upper="0.49" velocity="1"/>
    <controller_gains Kd="400" Kp="20000"/>
    <dynamics damping="0.1" friction="0.0"/>
  </joint>
  <gazebo reference="leftWristPitch">
    <provideFeedback>1</provideFeedback>
    <implicitSpringDamper>1</implicitSpringDamper>
  </gazebo>
  <link name="leftThumbRollLink">
    <inertial>
      <mass value="0.017"/>
      <origin rpy="0 0 0" xyz="0 0.0 0.01"/>
      <inertia ixx="2.7778767e-06" ixy="5.6718533e-09" ixz="9.5523207e-08" iyy="3.5462642e-06" iyz="-3.663718e-08" izz="1.3553297e-06"/>
    </inertial>
  </link>
  <link name="leftThumbPitch1Link">
    <inertial>
      <mass value="0.02"/>
      <origin rpy="0 0 0" xyz="0.0 0.005 0.02"/>
      <inertia ixx="4.239e-06" ixy="0.0" ixz="0.0" iyy="4.582e-06" iyz="-0.0" izz="1.47e-06"/>
    </inertial>
    <visual>
      <geometry>
        <box size="0.025 0.015 0.04"/>
      </geometry>
      <origin rpy="-0.2 0 0" xyz="0 0.005 0.025"/>
      <material name="White"/>
    </visual>
    <collision>
      <geometry>
        <box size="0.025 0.015 0.04"/>
      </geometry>
      <origin rpy="-0.2 0 0" xyz="0 0.005 0.025"/>
    </collision>
  </link>
  <link name="leftThumbPitch2Link">
    <inertial>
      <mass value="0.013"/>
      <origin rpy="0 0 0" xyz="0 0.004 0.017"/>
      <inertia ixx="1.266e-06" ixy="0.0" ixz="0.0" iyy="1.503e-06" iyz="0.0" izz="6.99e-07"/>
    </inertial>
    <visual>
      <geometry>
        <box size="0.020 0.015 0.03"/>
      </geometry>
      <origin rpy="-0.2 0 0" xyz="0 0.005 0.02"/>
      <material name="White"/>
    </visual>
    <collision>
      <geometry>
        <box size="0.020 0.015 0.03"/>
      </geometry>
      <origin rpy="-0.2 0 0" xyz="0 0.005 0.02"/>
    </collision>
  </link>
  <link name="leftThumbPitch3Link">
    <inertial>
      <mass value="0.006"/>
      <origin rpy="0 0 0" xyz="0 0.004 0.01"/>
      <inertia ixx="3.22e-07" ixy="0.0" ixz="0.0" iyy="4.06e-07" iyz="0.0" izz="2.1e-07"/>
    </inertial>
    <visual>
      <geometry>
        <box size="0.017 0.015 0.022"/>
      </geometry>
      <origin rpy="-0.2 0 0" xyz="0 0.005 0.016"/>
      <material name="White"/>
    </visual>
    <collision>
      <geometry>
        <box size="0.017 0.015 0.022"/>
      </geometry>
      <origin rpy="-0.2 0 0" xyz="0 0.005 0.016"/>
    </collision>
  </link>
  <joint name="leftThumbRoll" type="fixed">
    <origin rpy="-0.3491 0.0 0.0" xyz="0.0049 0.0351 0.0228"/>
    <axis xyz="0 0 1"/>
    <parent link="leftPalm"/>
    <child link="leftThumbRollLink"/>
  </joint>
  <gazebo reference="leftThumbRoll">
    <implicitSpringDamper>1</implicitSpringDamper>
  </gazebo>
  <joint name="leftThumbPitch1" type="fixed">
    <origin rpy="0.3491 0.0 0.0" xyz="0.0 0.0 0.0229"/>
    <axis xyz="0 0 1"/>
    <parent link="leftThumbRollLink"/>
    <child link="leftThumbPitch1Link"/>
  </joint>
  <gazebo reference="leftThumbPitch1">
    <implicitSpringDamper>1</implicitSpringDamper>
  </gazebo>
  <joint name="leftThumbPitch2" type="fixed">
    <origin rpy="0.0 0.0 0.0" xyz="0.0 0.0066 0.0375"/>
    <axis xyz="0 0 1"/>
    <parent link="leftThumbPitch1Link"/>
    <child link="leftThumbPitch2Link"/>
  </joint>
  <gazebo reference="leftThumbPitch2">
    <implicitSpringDamper>1</implicitSpringDamper>
  </gazebo>
  <joint name="leftThumbPitch3" type="fixed">
    <origin rpy="0.0 0.0 0.0" xyz="0.0 0.0049 0.0275"/>
    <axis xyz="0 0 1"/>
    <parent link="leftThumbPitch2Link"/>
    <child link="leftThumbPitch3Link"/>
  </joint>
  <gazebo reference="leftThumbPitch3">
    <implicitSpringDamper>1</implicitSpringDamper>
  </gazebo>
  <link name="leftIndexFingerPitch1Link">
    <inertial>
      <mass value="0.02"/>
      <origin rpy="0 0 0" xyz="0 0.02 0"/>
      <inertia ixx="4.232e-06" ixy="6e-08" ixz="8e-09" iyy="1.215e-06" iyz="-7e-09" izz="3.892e-06"/>
    </inertial>
    <visual>
      <geometry>
        <box size="0.015 0.04 0.025"/>
      </geometry>
      <origin rpy="0 0 0" xyz="0 0.02 0"/>
      <material name="White"/>
    </visual>
    <collision>
      <geometry>
        <box size="0.015 0.04 0.025"/>
      </geometry>
      <origin rpy="0 0 0" xyz="0 0.02 0"/>
    </collision>
  </link>
  <link name="leftIndexFingerPitch2Link">
    <inertial>
      <mass value="0.018"/>
      <origin rpy="0 0 0" xyz="0 0.013 0"/>
      <inertia ixx="1.562e-06" ixy="1.7e-08" ixz="1.3e-08" iyy="7.22e-07" iyz="3.1e-08" izz="1.255e-06"/>
    </inertial>
    <visual>
      <geometry>
        <box size="0.015 0.03 0.020"/>
      </geometry>
      <origin rpy="0 0 0" xyz="0 0.015 0"/>
      <material name="White"/>
    </visual>
    <collision>
      <geometry>
        <box size="0.015 0.03 0.020"/>
      </geometry>
      <origin rpy="0 0 0" xyz="0 0.015 0"/>
    </collision>
  </link>
  <link name="leftIndexFingerPitch3Link">
    <inertial>
      <mass value="0.01"/>
      <origin rpy="0 0 0" xyz="0 0.01 0"/>
      <inertia ixx="6.02e-07" ixy="2.4e-08" ixz="-0.0" iyy="2.09e-07" iyz="1.7e-08" izz="5.02e-07"/>
    </inertial>
    <visual>
      <geometry>
        <box size="0.015 0.022 0.017"/>
      </geometry>
      <origin rpy="0 0 0" xyz="0 0.011 0"/>
      <material name="White"/>
    </visual>
    <collision>
      <geometry>
        <box size="0.015 0.022 0.017"/>
      </geometry>
      <origin rpy="0 0 0" xyz="0 0.011 0"/>
    </collision>
  </link>
  <joint name="leftIndexFingerPitch1" type="fixed">
    <origin rpy="0.1745 0.0 0.0" xyz="0.0022 0.0976 0.0235"/>
    <axis xyz="0 0 1"/>
    <parent link="leftPalm"/>
    <child link="leftIndexFingerPitch1Link"/>
  </joint>
  <gazebo reference="leftIndexFingerPitch1">
    <implicitSpringDamper>1</implicitSpringDamper>
  </gazebo>
  <joint name="leftIndexFingerPitch2" type="fixed">
    <origin rpy="0.0 0.0 0.0" xyz="0.0 0.0381 0.0"/>
    <axis xyz="0 0 1"/>
    <parent link="leftIndexFingerPitch1Link"/>
    <child link="leftIndexFingerPitch2Link"/>
  </joint>
  <gazebo reference="leftIndexFingerPitch2">
    <implicitSpringDamper>1</implicitSpringDamper>
  </gazebo>
  <joint name="leftIndexFingerPitch3" type="fixed">
    <origin rpy="0.0 0.0 0.0" xyz="0.0 0.0229 0"/>
    <axis xyz="0 0 1"/>
    <parent link="leftIndexFingerPitch2Link"/>
    <child link="leftIndexFingerPitch3Link"/>
  </joint>
  <gazebo reference="leftIndexFingerPitch3">
    <implicitSpringDamper>1</implicitSpringDamper>
  </gazebo>
  <link name="leftMiddleFingerPitch1Link">
    <inertial>
      <mass value="0.02"/>
      <origin rpy="0 0 0" xyz="0 0.02 0"/>
      <inertia ixx="5.148e-06" ixy="4.2e-08" ixz="1.1e-08" iyy="1.322e-06" iyz="-4e-09" izz="4.592e-06"/>
    </inertial>
    <visual>
      <geometry>
        <box size="0.015 0.04 0.025"/>
      </geometry>
      <origin rpy="0 0 0" xyz="0 0.02 0"/>
      <material name="White"/>
    </visual>
    <collision>
      <geometry>
        <box size="0.015 0.04 0.025"/>
      </geometry>
      <origin rpy="0 0 0" xyz="0 0.02 0"/>
    </collision>
  </link>
  <link name="leftMiddleFingerPitch2Link">
    <inertial>
      <mass value="0.011"/>
      <origin rpy="0 0 0" xyz="0 0.013 0"/>
      <inertia ixx="1.97e-06" ixy="-3.4e-08" ixz="1.1e-08" iyy="5.54e-07" iyz="-7.8e-08" izz="2.272e-06"/>
    </inertial>
    <visual>
      <geometry>
        <box size="0.015 0.03 0.020"/>
      </geometry>
      <origin rpy="0 0 0" xyz="0 0.015 0"/>
      <material name="White"/>
    </visual>
    <collision>
      <geometry>
        <box size="0.015 0.03 0.020"/>
      </geometry>
      <origin rpy="0 0 0" xyz="0 0.015 0"/>
    </collision>
  </link>
  <link name="leftMiddleFingerPitch3Link">
    <inertial>
      <mass value="0.006"/>
      <origin rpy="0 0 0" xyz="0 0.01 0"/>
      <inertia ixx="3.96e-07" ixy="9e-09" ixz="1e-09" iyy="1.6e-07" iyz="1.6e-08" izz="3.03e-07"/>
    </inertial>
    <visual>
      <geometry>
        <box size="0.015 0.022 0.017"/>
      </geometry>
      <origin rpy="0 0 0" xyz="0 0.011 0"/>
      <material name="White"/>
    </visual>
    <collision>
      <geometry>
        <box size="0.015 0.022 0.017"/>
      </geometry>
      <origin rpy="0 0 0" xyz="0 0.011 0"/>
    </collision>
  </link>
  <joint name="leftMiddleFingerPitch1" type="fixed">
    <origin rpy="-0.1222 0.0 0.0" xyz="0.0022 0.097 -0.0119"/>
    <axis xyz="0 0 1"/>
    <parent link="leftPalm"/>
    <child link="leftMiddleFingerPitch1Link"/>
  </joint>
  <gazebo reference="leftMiddleFingerPitch1">
    <implicitSpringDamper>1</implicitSpringDamper>
  </gazebo>
  <joint name="leftMiddleFingerPitch2" type="fixed">
    <origin rpy="0.0 0.0 0.0" xyz="0.0 0.0381 0.0"/>
    <axis xyz="0 0 1"/>
    <parent link="leftMiddleFingerPitch1Link"/>
    <child link="leftMiddleFingerPitch2Link"/>
  </joint>
  <gazebo reference="leftMiddleFingerPitch2">
    <implicitSpringDamper>1</implicitSpringDamper>
  </gazebo>
  <joint name="leftMiddleFingerPitch3" type="fixed">
    <origin rpy="0.0 0.0 0.0" xyz="0.0 0.0229 0.0"/>
    <axis xyz="0 0 1"/>
    <parent link="leftMiddleFingerPitch2Link"/>
    <child link="leftMiddleFingerPitch3Link"/>
  </joint>
  <gazebo reference="leftMiddleFingerPitch3">
    <implicitSpringDamper>1</implicitSpringDamper>
  </gazebo>
  <link name="leftPinkyPitch1Link">
    <inertial>
      <mass value="0.02"/>
      <origin rpy="0 0 0" xyz="0 0.02 0"/>
      <inertia ixx="5.148e-06" ixy="4.2e-08" ixz="1.1e-08" iyy="1.322e-06" iyz="-4e-09" izz="4.592e-06"/>
    </inertial>
    <visual>
      <geometry>
        <box size="0.015 0.04 0.025"/>
      </geometry>
      <origin rpy="0 0 0" xyz="0 0.015 0"/>
      <material name="White"/>
    </visual>
    <collision>
      <geometry>
        <box size="0.015 0.04 0.025"/>
      </geometry>
      <origin rpy="0 0 0" xyz="0 0.015 0"/>
    </collision>
  </link>
  <link name="leftPinkyPitch2Link">
    <inertial>
      <mass value="0.011"/>
      <origin rpy="0 0 0" xyz="0 0.013 0"/>
      <inertia ixx="1.97e-06" ixy="-3.4e-08" ixz="1.1e-08" iyy="5.54e-07" iyz="-7.8e-08" izz="2.272e-06"/>
    </inertial>
    <visual>
      <geometry>
        <box size="0.015 0.03 0.020"/>
      </geometry>
      <origin rpy="0 0 0" xyz="0 0.015 0"/>
      <material name="White"/>
    </visual>
    <collision>
      <geometry>
        <box size="0.015 0.03 0.020"/>
      </geometry>
      <origin rpy="0 0 0" xyz="0 0.015 0"/>
    </collision>
  </link>
  <link name="leftPinkyPitch3Link">
    <inertial>
      <mass value="0.006"/>
      <origin rpy="0 0 0" xyz="0 0.01 0"/>
      <inertia ixx="3.96e-07" ixy="9e-09" ixz="1e-09" iyy="1.6e-07" iyz="1.6e-08" izz="3.03e-07"/>
    </inertial>
    <visual>
      <geometry>
        <box size="0.015 0.022 0.017"/>
      </geometry>
      <origin rpy="0 0 0" xyz="0 0.011 0"/>
      <material name="White"/>
    </visual>
    <collision>
      <geometry>
        <box size="0.015 0.022 0.017"/>
      </geometry>
      <origin rpy="0 0 0" xyz="0 0.011 0"/>
    </collision>
  </link>
  <joint name="leftPinkyPitch1" type="fixed">
    <origin rpy="-0.1222 0.0 0.0" xyz="0.0022 0.0838 -0.041"/>
    <axis xyz="0 0 1"/>
    <parent link="leftPalm"/>
    <child link="leftPinkyPitch1Link"/>
  </joint>
  <gazebo reference="leftPinkyPitch1">
    <implicitSpringDamper>1</implicitSpringDamper>
  </gazebo>
  <joint name="leftPinkyPitch2" type="fixed">
    <origin rpy="0.0 0.0 0.0" xyz="0.0 0.0381 0.0"/>
    <axis xyz="0 0 1"/>
    <parent link="leftPinkyPitch1Link"/>
    <child link="leftPinkyPitch2Link"/>
  </joint>
  <gazebo reference="leftPinkyPitch2">
    <implicitSpringDamper>1</implicitSpringDamper>
  </gazebo>
  <joint name="leftPinkyPitch3" type="fixed">
    <origin rpy="0.0 0.0 0.0" xyz="0.0 0.0229 0.0"/>
    <axis xyz="0 0 1"/>
    <parent link="leftPinkyPitch2Link"/>
    <child link="leftPinkyPitch3Link"/>
  </joint>
  <gazebo reference="leftPinkyPitch3">
    <implicitSpringDamper>1</implicitSpringDamper>
  </gazebo>
  <link name="rightHipYawLink">
    <inertial>
      <mass value="2.39"/>
      <origin rpy="0 0 0" xyz="0.02176 0.00131 0.03867"/>
      <inertia ixx="0.017260978" ixy="0.0" ixz="0.0" iyy="0.014866198" iyz="0.0" izz="0.011238178"/>
    </inertial>
    <visual>
      <geometry>
        <sphere radius="0.14"/>
      </geometry>
      <origin xyz="0 0.01 -0.035"/>
      <material name="White"/>
    </visual>
    <collision>
      <geometry>
        <sphere radius="0.14"/>
      </geometry>
      <origin xyz="0 0.01 -0.035"/>
    </collision>
  </link>
  <link name="rightHipRollLink">
    <inertial>
      <mass value="3.665"/>
      <origin rpy="0 0 0" xyz="0.012959 -0.00755 -0.015950"/>
      <inertia ixx="0.005978962" ixy="0.000234823" ixz="0.000553962" iyy="0.009372646" iyz="-0.000778956" izz="0.008193117"/>
    </inertial>
  </link>
  <link name="rightHipPitchLink">
    <inertial>
      <mass value="10.2"/>
      <origin rpy="0 0 0" xyz="0.016691 -0.091397 -0.207875"/>
      <inertia ixx="0.24083413" ixy="-3.5915e-05" ixz="0.003699383" iyy="0.25689705" iyz="0.001333005" izz="0.023276352"/>
    </inertial>
    <visual>
      <geometry>
        <box size="0.22 0.22 0.29"/>
      </geometry>
      <origin rpy="0 0 0" xyz="0.03 -0.07 -0.31"/>
      <material name="White"/>
    </visual>
    <visual>
      <geometry>
        <box size="0.22 0.08 0.254"/>
      </geometry>
      <origin rpy="0 0 0" xyz="0.03 -0.14 -0.038"/>
      <material name="White"/>
    </visual>
    <collision>
      <geometry>
        <box size="0.22 0.22 0.29"/>
      </geometry>
      <origin rpy="0 0 0" xyz="0.03 -0.07 -0.31"/>
    </collision>
    <collision>
      <geometry>
        <box size="0.22 0.08 0.254"/>
      </geometry>
      <origin rpy="0 0 0" xyz="0.03 -0.14 -0.038"/>
    </collision>
  </link>
  <link name="rightKneePitchLink">
    <inertial>
      <mass value="6.6"/>
      <origin rpy="0 0 0" xyz="0.002425 -0.001543 -0.189511"/>
      <inertia ixx="0.096117529" ixy="0.000107885" ixz="0.006319047" iyy="0.097118447" iyz="-0.000494739" izz="0.013722874"/>
    </inertial>
    <visual>
      <geometry>
        <box size="0.185 0.18 0.38"/>
      </geometry>
      <origin rpy="0 0 0" xyz="-0.008 -0.005 -0.205"/>
      <material name="White"/>
    </visual>
    <collision>
      <geometry>
        <box size="0.185 0.18 0.38"/>
      </geometry>
      <origin rpy="0 0 0" xyz="-0.008 -0.005 -0.205"/>
    </collision>
  </link>
  <link name="rightAnklePitchLink">
    <inertial>
      <mass value="0.06"/>
      <origin rpy="0 0 0" xyz="0.0 0.0 0.0"/>
      <inertia ixx="1.1226e-05" ixy="0.0" ixz="2.735e-06" iyy="2.67e-05" iyz="0.0" izz="1.8792e-05"/>
    </inertial>
  </link>
  <link name="rightFoot">
    <inertial>
      <mass value="3.255"/>
      <origin rpy="0 0 0" xyz="0.037702 0.005161 -0.047634"/>
      <inertia ixx="0.008966273" ixy="-8.6029e-05" ixz="0.003944774" iyy="0.023943858" iyz="0.000105218" izz="0.028128777"/>
    </inertial>
    <collision>
      <geometry>
        <box size="0.27 0.16 0.064"/>
      </geometry>
      <origin rpy="0.0 0.0 0.0" xyz="0.066 0.0 -0.056"/>
      <material name="White"/>
    </collision>
    <collision group="midfoot_rear">
      <origin rpy="0 0 0" xyz="0.032 0.055 -0.09"/>
      <geometry>
        <sphere radius="0.0"/>
      </geometry>
      <material name="White"/>
    </collision>
    <collision group="midfoot_rear">
      <origin rpy="0 0 0" xyz="0.032 -0.055 -0.09"/>
      <geometry>
        <sphere radius="0.0"/>
      </geometry>
      <material name="White"/>
    </collision>
    <collision group="midfoot_front">
      <origin rpy="0 0 0" xyz="0.102 0.055 -0.09"/>
      <geometry>
        <sphere radius="0.0"/>
      </geometry>
      <material name="White"/>
    </collision>
    <collision group="midfoot_front">
      <origin rpy="0 0 0" xyz="0.102 -0.055 -0.09"/>
      <geometry>
        <sphere radius="0.0"/>
      </geometry>
      <material name="White"/>
    </collision>
    <collision group="heel">
      <origin rpy="0 0 0" xyz="-0.038 0.055 -0.09"/>
      <geometry>
        <sphere radius="0.0"/>
      </geometry>
      <material name="White"/>
    </collision>
    <collision group="heel">
      <origin rpy="0 0 0" xyz="-0.038 -0.055 -0.09"/>
      <geometry>
        <sphere radius="0.0"/>
      </geometry>
      <material name="White"/>
    </collision>
    <collision group="toe">
      <origin rpy="0 0 0" xyz="0.172 0.055 -0.09"/>
      <geometry>
        <sphere radius="0.0"/>
      </geometry>
      <material name="White"/>
    </collision>
    <collision group="toe">
      <origin rpy="0 0 0" xyz="0.172 -0.055 -0.09"/>
      <geometry>
        <sphere radius="0.0"/>
      </geometry>
      <material name="White"/>
    </collision>
    <visual>
      <geometry>
        <box size="0.27 0.16 0.064"/>
      </geometry>
      <origin rpy="0 0 0" xyz="0.066 0.0 -0.056"/>
      <material name="White"/>
    </visual>
  </link>
  <joint name="rightHipYaw" type="revolute">
    <origin rpy="0.0 0.0 0.0" xyz="0.0 -0.1016 -0.1853"/>
    <axis xyz="0 0 1"/>
    <parent link="pelvis"/>
    <child link="rightHipYawLink"/>
    <limit effort="190" lower="-1.1" upper="0.4141" velocity="5.89"/>
    <controller_gains Kd="500" Kp="15000"/>
    <dynamics damping="0.1" friction="0.0"/>
  </joint>
  <gazebo reference="rightHipYaw">
    <provideFeedback>1</provideFeedback>
    <implicitSpringDamper>1</implicitSpringDamper>
  </gazebo>
  <joint name="rightHipRoll" type="revolute">
    <origin rpy="0.0 0.0 0.0" xyz="0.0 0.0 0.0"/>
    <axis xyz="1 0 0"/>
    <parent link="rightHipYawLink"/>
    <child link="rightHipRollLink"/>
    <limit effort="350" lower="-0.5515" upper="0.467" velocity="7"/>
    <controller_gains Kd="500" Kp="15000"/>
    <dynamics damping="0.1" friction="0.0"/>
  </joint>
  <gazebo reference="rightHipRoll">
    <provideFeedback>1</provideFeedback>
    <implicitSpringDamper>1</implicitSpringDamper>
  </gazebo>
  <joint name="rightHipPitch" type="revolute">
    <origin rpy="0.0 0.0 0.0" xyz="0.0 0.0 -0.0609"/>
    <axis xyz="0 1 0"/>
    <parent link="rightHipRollLink"/>
    <child link="rightHipPitchLink"/>
    <limit effort="350" lower="-2.42" upper="1.619" velocity="6.11"/>
    <controller_gains Kd="500" Kp="15000"/>
    <dynamics damping="0.1" friction="0.0"/>
  </joint>
  <gazebo reference="rightHipPitch">
    <provideFeedback>1</provideFeedback>
    <implicitSpringDamper>1</implicitSpringDamper>
  </gazebo>
  <joint name="rightKneePitch" type="revolute">
    <origin rpy="0.0 0.0 0.0" xyz="0.000112225 -0.0361046 -0.430959"/>
    <axis xyz="0 1 0"/>
    <parent link="rightHipPitchLink"/>
    <child link="rightKneePitchLink"/>
    <limit effort="350" lower="-0.083" upper="2.057" velocity="6.11"/>
    <controller_gains Kd="500" Kp="15000"/>
    <dynamics damping="0.1" friction="0.0"/>
  </joint>
  <gazebo reference="rightKneePitch">
    <provideFeedback>1</provideFeedback>
    <implicitSpringDamper>1</implicitSpringDamper>
  </gazebo>
  <joint name="rightAnklePitch" type="revolute">
    <origin rpy="0.0 0.0 0.0" xyz="-0.0102381 0.0 -0.40627"/>
    <axis xyz="0 1 0"/>
    <parent link="rightKneePitchLink"/>
    <child link="rightAnklePitchLink"/>
    <limit effort="205" lower="-0.8644" upper="0.875" velocity="11"/>
    <controller_gains Kd="400" Kp="15000"/>
    <dynamics damping="0.1" friction="0.0"/>
  </joint>
  <gazebo reference="rightAnklePitch">
    <provideFeedback>1</provideFeedback>
    <implicitSpringDamper>1</implicitSpringDamper>
  </gazebo>
  <joint name="rightAnkleRoll" type="revolute">
    <origin rpy="0.0 0.0 0.0" xyz="0.0 0.0 0.0"/>
    <axis xyz="1 0 0"/>
    <parent link="rightAnklePitchLink"/>
    <child link="rightFoot"/>
    <limit effort="205" lower="-0.349" upper="0.348" velocity="11"/>
    <controller_gains Kd="400" Kp="15000"/>
    <dynamics damping="0.3" friction="0.0"/>
  </joint>
  <gazebo reference="rightAnkleRoll">
    <provideFeedback>1</provideFeedback>
    <implicitSpringDamper>1</implicitSpringDamper>
  </gazebo>
  <link name="leftHipYawLink">
    <inertial>
      <mass value="2.39"/>
      <origin rpy="0 0 0" xyz="0.02176 -0.00131 0.03867"/>
      <inertia ixx="0.017260978" ixy="0.0" ixz="0.0" iyy="0.014866198" iyz="0.0" izz="0.011238178"/>
    </inertial>
    <visual>
      <geometry>
        <sphere radius="0.14"/>
      </geometry>
      <origin xyz="0 0.01 -0.035"/>
      <material name="White"/>
    </visual>
    <collision>
      <geometry>
        <sphere radius="0.14"/>
      </geometry>
      <origin xyz="0 0.01 -0.035"/>
    </collision>
  </link>
  <link name="leftHipRollLink">
    <inertial>
      <mass value="3.665"/>
      <origin rpy="0 0 0" xyz="0.012959 0.00755 -0.015950"/>
      <inertia ixx="0.005978962" ixy="-0.000234823" ixz="0.000553962" iyy="0.009372646" iyz="0.000778956" izz="0.008193117"/>
    </inertial>
  </link>
  <link name="leftHipPitchLink">
    <inertial>
      <mass value="10.2"/>
      <origin rpy="0 0 0" xyz="0.016691 0.091397 -0.207875"/>
      <inertia ixx="0.24083413" ixy="3.5915e-05" ixz="0.003699383" iyy="0.25689705" iyz="-0.001333005" izz="0.023276352"/>
    </inertial>
    <visual>
      <geometry>
        <box size="0.22 0.22 0.29"/>
      </geometry>
      <origin rpy="0 0 0" xyz="0.03 0.07 -0.31"/>
      <material name="White"/>
    </visual>
    <visual>
      <geometry>
        <box size="0.22 0.08 0.254"/>
      </geometry>
      <origin rpy="0 0 0" xyz="0.03 0.14 -0.038"/>
      <material name="White"/>
    </visual>
    <collision>
      <geometry>
        <box size="0.22 0.22 0.29"/>
      </geometry>
      <origin rpy="0 0 0" xyz="0.03 0.07 -0.31"/>
    </collision>
    <collision>
      <geometry>
        <box size="0.22 0.08 0.254"/>
      </geometry>
      <origin rpy="0 0 0" xyz="0.03 0.14 -0.038"/>
    </collision>
  </link>
  <link name="leftKneePitchLink">
    <inertial>
      <mass value="6.6"/>
      <origin rpy="0 0 0" xyz="0.002425 -0.001543 -0.189511"/>
      <inertia ixx="0.096117529" ixy="0.000107885" ixz="0.006319047" iyy="0.097118447" iyz="-0.000494739" izz="0.013722874"/>
    </inertial>
    <visual>
      <geometry>
        <box size="0.185 0.18 0.38"/>
      </geometry>
      <origin rpy="0 0 0" xyz="-0.008  0.005 -0.205"/>
      <material name="White"/>
    </visual>
    <collision>
      <geometry>
        <box size="0.185 0.18 0.38"/>
      </geometry>
      <origin rpy="0 0 0" xyz="-0.008  0.005 -0.205"/>
    </collision>
  </link>
  <link name="leftAnklePitchLink">
    <inertial>
      <mass value="0.06"/>
      <origin rpy="0 0 0" xyz="0.0 0.0 0.0"/>
      <inertia ixx="1.1226e-05" ixy="0.0" ixz="2.735e-06" iyy="2.67e-05" iyz="0.0" izz="1.8792e-05"/>
    </inertial>
  </link>
  <link name="leftFoot">
    <inertial>
      <mass value="3.255"/>
      <origin rpy="0 0 0" xyz="0.037702 0.005161 -0.047634"/>
      <inertia ixx="0.008966273" ixy="-8.6029e-05" ixz="0.003944774" iyy="0.023943858" iyz="0.000105218" izz="0.028128777"/>
    </inertial>
    <collision>
      <geometry>
        <box size="0.27 0.16 0.064"/>
      </geometry>
      <origin rpy="0.0 0.0 0.0" xyz="0.066 0.0 -0.056"/>
      <material name="White"/>
    </collision>
    <collision group="midfoot_rear">
      <origin rpy="0 0 0" xyz="0.032 0.055 -0.09"/>
      <geometry>
        <sphere radius="0.0"/>
      </geometry>
      <material name="White"/>
    </collision>
    <collision group="midfoot_rear">
      <origin rpy="0 0 0" xyz="0.032 -0.055 -0.09"/>
      <geometry>
        <sphere radius="0.0"/>
      </geometry>
      <material name="White"/>
    </collision>
    <collision group="midfoot_front">
      <origin rpy="0 0 0" xyz="0.102 0.055 -0.09"/>
      <geometry>
        <sphere radius="0.0"/>
      </geometry>
      <material name="White"/>
    </collision>
    <collision group="midfoot_front">
      <origin rpy="0 0 0" xyz="0.102 -0.055 -0.09"/>
      <geometry>
        <sphere radius="0.0"/>
      </geometry>
      <material name="White"/>
    </collision>
    <collision group="heel">
      <origin rpy="0 0 0" xyz="-0.038 0.055 -0.09"/>
      <geometry>
        <sphere radius="0.0"/>
      </geometry>
      <material name="White"/>
    </collision>
    <collision group="heel">
      <origin rpy="0 0 0" xyz="-0.038 -0.055 -0.09"/>
      <geometry>
        <sphere radius="0.0"/>
      </geometry>
      <material name="White"/>
    </collision>
    <collision group="toe">
      <origin rpy="0 0 0" xyz="0.172 0.055 -0.09"/>
      <geometry>
        <sphere radius="0.0"/>
      </geometry>
      <material name="White"/>
    </collision>
    <collision group="toe">
      <origin rpy="0 0 0" xyz="0.172 -0.055 -0.09"/>
      <geometry>
        <sphere radius="0.0"/>
      </geometry>
      <material name="White"/>
    </collision>
    <visual>
      <geometry>
        <box size="0.27 0.16 0.064"/>
      </geometry>
      <origin rpy="0 0 0" xyz="0.066 0.0 -0.056"/>
      <material name="White"/>
    </visual>
  </link>
  <joint name="leftHipYaw" type="revolute">
    <origin rpy="0.0 0.0 0.0" xyz="0.0 0.1016 -0.1853"/>
    <axis xyz="0 0 1"/>
    <parent link="pelvis"/>
    <child link="leftHipYawLink"/>
    <limit effort="190" lower="-0.4141" upper="1.1" velocity="5.89"/>
    <controller_gains Kd="500" Kp="15000"/>
    <dynamics damping="0.1" friction="0.0"/>
  </joint>
  <gazebo reference="leftHipYaw">
    <provideFeedback>1</provideFeedback>
    <implicitSpringDamper>1</implicitSpringDamper>
  </gazebo>
  <joint name="leftHipRoll" type="revolute">
    <origin rpy="0.0 0.0 0.0" xyz="0.0 0.0 0.0"/>
    <axis xyz="1 0 0"/>
    <parent link="leftHipYawLink"/>
    <child link="leftHipRollLink"/>
    <limit effort="350" lower="-0.467" upper="0.5515" velocity="7"/>
    <controller_gains Kd="500" Kp="15000"/>
    <dynamics damping="0.1" friction="0.0"/>
  </joint>
  <gazebo reference="leftHipRoll">
    <provideFeedback>1</provideFeedback>
    <implicitSpringDamper>1</implicitSpringDamper>
  </gazebo>
  <joint name="leftHipPitch" type="revolute">
    <origin rpy="0.0 0.0 0.0" xyz="0.0 0.0 -0.0609"/>
    <axis xyz="0 1 0"/>
    <parent link="leftHipRollLink"/>
    <child link="leftHipPitchLink"/>
    <limit effort="350" lower="-2.42" upper="1.619" velocity="6.11"/>
    <controller_gains Kd="500" Kp="15000"/>
    <dynamics damping="0.1" friction="0.0"/>
  </joint>
  <gazebo reference="leftHipPitch">
    <provideFeedback>1</provideFeedback>
    <implicitSpringDamper>1</implicitSpringDamper>
  </gazebo>
  <joint name="leftKneePitch" type="revolute">
    <origin rpy="0.0 0.0 0.0" xyz="0.000112225 0.0361046 -0.430959"/>
    <axis xyz="0 1 0"/>
    <parent link="leftHipPitchLink"/>
    <child link="leftKneePitchLink"/>
    <limit effort="350" lower="-0.083" upper="2.057" velocity="6.11"/>
    <controller_gains Kd="500" Kp="15000"/>
    <dynamics damping="0.1" friction="0.0"/>
  </joint>
  <gazebo reference="leftKneePitch">
    <provideFeedback>1</provideFeedback>
    <implicitSpringDamper>1</implicitSpringDamper>
  </gazebo>
  <joint name="leftAnklePitch" type="revolute">
    <origin rpy="0.0 0.0 0.0" xyz="-0.0102381 0.0 -0.40627"/>
    <axis xyz="0 1 0"/>
    <parent link="leftKneePitchLink"/>
    <child link="leftAnklePitchLink"/>
    <limit effort="205" lower="-0.8644" upper="0.875" velocity="11"/>
    <controller_gains Kd="400" Kp="15000"/>
    <dynamics damping="0.1" friction="0.0"/>
  </joint>
  <gazebo reference="leftAnklePitch">
    <provideFeedback>1</provideFeedback>
    <implicitSpringDamper>1</implicitSpringDamper>
  </gazebo>
  <joint name="leftAnkleRoll" type="revolute">
    <origin rpy="0.0 0.0 0.0" xyz="0.0 0.0 0.0"/>
    <axis xyz="1 0 0"/>
    <parent link="leftAnklePitchLink"/>
    <child link="leftFoot"/>
    <limit effort="205" lower="-0.349" upper="0.348" velocity="11"/>
    <controller_gains Kd="400" Kp="15000"/>
    <dynamics damping="0.3" friction="0.0"/>
  </joint>
  <gazebo reference="leftAnkleRoll">
    <provideFeedback>1</provideFeedback>
    <implicitSpringDamper>1</implicitSpringDamper>
  </gazebo>
  <link name="rightPelvisIMU_Frame">
    <!-- Virtual Link -->
    <inertial>
      <mass value="1e-07"/>
      <origin rpy="0 0 0" xyz="0 0 0"/>
      <inertia ixx="3.33333333333e-22" ixy="0.0" ixz="0.0" iyy="3.33333333333e-22" iyz="0.0" izz="5e-22"/>
    </inertial>
  </link>
  <joint name="rightPelvisIMU_Offset" type="fixed">
    <origin rpy="-1.57 0.0 1.274" xyz="0.0515 -0.115 -0.042"/>
    <axis xyz="0 0 1"/>
    <parent link="pelvis"/>
    <child link="rightPelvisIMU_Frame"/>
  </joint>
  <gazebo reference="rightPelvisIMU_Offset">
    <implicitSpringDamper>1</implicitSpringDamper>
  </gazebo>
  <gazebo reference="rightPelvisIMU_Frame">
    <sensor name="rightPelvisIMU" type="imu">
      <always_on>true</always_on>
      <pose>0.0515 -0.115 -0.042 -1.57 0.0 1.274 </pose>
      <imu>
        <noise>
          <type>gaussian</type>
          <rate>
            <mean>0</mean>
            <stddev>0.0002</stddev>
            <bias_mean>7.5e-06</bias_mean>
            <bias_stddev>8e-07</bias_stddev>
          </rate>
          <accel>
            <mean>0</mean>
            <stddev>0.017</stddev>
            <bias_mean>0.1</bias_mean>
            <bias_stddev>0.001</bias_stddev>
          </accel>
        </noise>
      </imu>
    </sensor>
  </gazebo>
  <link name="leftPelvisIMU_Frame">
    <!-- Virtual Link -->
    <inertial>
      <mass value="1e-07"/>
      <origin rpy="0 0 0" xyz="0 0 0"/>
      <inertia ixx="3.33333333333e-22" ixy="0.0" ixz="0.0" iyy="3.33333333333e-22" iyz="0.0" izz="5e-22"/>
    </inertial>
  </link>
  <joint name="leftPelvisIMU_Offset" type="fixed">
    <origin rpy="1.57 0 -1.274" xyz="0.0515 0.115 -0.042"/>
    <axis xyz="0 0 1"/>
    <parent link="pelvis"/>
    <child link="leftPelvisIMU_Frame"/>
  </joint>
  <gazebo reference="leftPelvisIMU_Offset">
    <implicitSpringDamper>1</implicitSpringDamper>
  </gazebo>
  <gazebo reference="leftPelvisIMU_Frame">
    <sensor name="leftPelvisIMU" type="imu">
      <always_on>true</always_on>
      <pose>0.0515 0.115 -0.042 1.57 0 -1.274 </pose>
      <imu>
        <noise>
          <type>gaussian</type>
          <rate>
            <mean>0</mean>
            <stddev>0.0002</stddev>
            <bias_mean>7.5e-06</bias_mean>
            <bias_stddev>8e-07</bias_stddev>
          </rate>
          <accel>
            <mean>0</mean>
            <stddev>0.017</stddev>
            <bias_mean>0.1</bias_mean>
            <bias_stddev>0.001</bias_stddev>
          </accel>
        </noise>
      </imu>
    </sensor>
  </gazebo>
  <link name="leftCOP_Frame">
    <inertial>
      <mass value="0.1"/>
      <origin rpy="0 0 0" xyz="0 0 0"/>
      <inertia ixx="8.33333333333e-05" ixy="0.0" ixz="0.0" iyy="8.33333333333e-05" iyz="0.0" izz="0.000125"/>
    </inertial>
  </link>
  <joint name="leftCOP_Offset" type="fixed">
    <origin rpy="0.0 0.13 0.0" xyz="0.0189 0.0 -0.0783"/>
    <axis xyz="0 0 1"/>
    <parent link="leftFoot"/>
    <child link="leftCOP_Frame"/>
  </joint>
  <gazebo reference="leftCOP_Offset">
    <implicitSpringDamper>1</implicitSpringDamper>
  </gazebo>
  <link name="leftLegSixAxis_Frame">
    <!-- Virtual Link -->
    <inertial>
      <mass value="1e-07"/>
      <origin rpy="0 0 0" xyz="0 0 0"/>
      <inertia ixx="3.33333333333e-22" ixy="0.0" ixz="0.0" iyy="3.33333333333e-22" iyz="0.0" izz="5e-22"/>
    </inertial>
  </link>
  <joint name="leftLegSixAxis_Offset" type="fixed">
    <origin rpy="3.14 0.0 -1.047" xyz="0.0215646 0.0 -0.051054"/>
    <axis xyz="0 0 1"/>
    <parent link="leftFoot"/>
    <child link="leftLegSixAxis_Frame"/>
  </joint>
  <gazebo reference="leftLegSixAxis_Offset">
    <implicitSpringDamper>1</implicitSpringDamper>
  </gazebo>
  <gazebo reference="leftLegSixAxis_Offset">
    <sensor name="leftLegSixAxis" type="force_torque">
    </sensor>
  </gazebo>
  <link name="rightCOP_Frame">
    <inertial>
      <mass value="0.1"/>
      <origin rpy="0 0 0" xyz="0 0 0"/>
      <inertia ixx="8.33333333333e-05" ixy="0.0" ixz="0.0" iyy="8.33333333333e-05" iyz="0.0" izz="0.000125"/>
    </inertial>
  </link>
  <joint name="rightCOP_Offset" type="fixed">
    <origin rpy="0.0 0.13 0.0" xyz="0.0189 0.0 -0.0783"/>
    <axis xyz="0 0 1"/>
    <parent link="rightFoot"/>
    <child link="rightCOP_Frame"/>
  </joint>
  <gazebo reference="rightCOP_Offset">
    <implicitSpringDamper>1</implicitSpringDamper>
  </gazebo>
  <link name="rightLegSixAxis_Frame">
    <!-- Virtual Link -->
    <inertial>
      <mass value="1e-07"/>
      <origin rpy="0 0 0" xyz="0 0 0"/>
      <inertia ixx="3.33333333333e-22" ixy="0.0" ixz="0.0" iyy="3.33333333333e-22" iyz="0.0" izz="5e-22"/>
    </inertial>
  </link>
  <joint name="rightLegSixAxis_Offset" type="fixed">
    <origin rpy="3.14 0.0 -1.047" xyz="0.0215646 0.0 -0.051054"/>
    <axis xyz="0 0 1"/>
    <parent link="rightFoot"/>
    <child link="rightLegSixAxis_Frame"/>
  </joint>
  <gazebo reference="rightLegSixAxis_Offset">
    <implicitSpringDamper>1</implicitSpringDamper>
  </gazebo>
  <gazebo reference="rightLegSixAxis_Offset">
    <sensor name="rightLegSixAxis" type="force_torque">
    </sensor>
  </gazebo>
  <joint name="multisense_head_root_joint" type="fixed">
    <origin rpy="-3.14159 0.130899694 0.0" xyz="0.183585961 0.0 0.075353826"/>
    <axis xyz="0 0 1"/>
    <parent link="upperNeckPitchLink"/>
    <child link="head"/>
  </joint>
  <gazebo reference="multisense_head_root_joint">
    <implicitSpringDamper>1</implicitSpringDamper>
  </gazebo>
  <link name="rightTorsoIMU_Frame">
    <!-- Virtual Link -->
    <inertial>
      <mass value="1e-07"/>
      <origin rpy="0 0 0" xyz="0 0 0"/>
      <inertia ixx="3.33333333333e-22" ixy="0.0" ixz="0.0" iyy="3.33333333333e-22" iyz="0.0" izz="5e-22"/>
    </inertial>
  </link>
  <joint name="rightTorsoIMU_Offset" type="fixed">
    <origin rpy="-1.57 0.0 3.14" xyz="-0.047 -0.134 0.363"/>
    <axis xyz="0 0 1"/>
    <parent link="torso"/>
    <child link="rightTorsoIMU_Frame"/>
  </joint>
  <gazebo reference="rightTorsoIMU_Offset">
    <implicitSpringDamper>1</implicitSpringDamper>
  </gazebo>
  <gazebo reference="rightTorsoIMU_Frame">
    <sensor name="rightTorsoIMU" type="imu">
      <always_on>true</always_on>
      <pose>-0.047 -0.134 0.363 -1.57 0.0 3.14 </pose>
      <imu>
        <noise>
          <type>gaussian</type>
          <rate>
            <mean>0</mean>
            <stddev>0.0002</stddev>
            <bias_mean>7.5e-06</bias_mean>
            <bias_stddev>8e-07</bias_stddev>
          </rate>
          <accel>
            <mean>0</mean>
            <stddev>0.017</stddev>
            <bias_mean>0.1</bias_mean>
            <bias_stddev>0.001</bias_stddev>
          </accel>
        </noise>
      </imu>
    </sensor>
  </gazebo>
  <link name="leftTorsoIMU_Frame">
    <!-- Virtual Link -->
    <inertial>
      <mass value="1e-07"/>
      <origin rpy="0 0 0" xyz="0 0 0"/>
      <inertia ixx="3.33333333333e-22" ixy="0.0" ixz="0.0" iyy="3.33333333333e-22" iyz="0.0" izz="5e-22"/>
    </inertial>
  </link>
  <joint name="leftTorsoIMU_Offset" type="fixed">
    <origin rpy="1.57 0.0 3.14" xyz="-0.047 0.134 0.363"/>
    <axis xyz="0 0 1"/>
    <parent link="torso"/>
    <child link="leftTorsoIMU_Frame"/>
  </joint>
  <gazebo reference="leftTorsoIMU_Offset">
    <implicitSpringDamper>1</implicitSpringDamper>
  </gazebo>
  <gazebo reference="leftTorsoIMU_Frame">
    <sensor name="leftTorsoIMU" type="imu">
      <always_on>true</always_on>
      <pose>-0.047 0.134 0.363 1.57 0.0 3.14 </pose>
      <imu>
        <noise>
          <type>gaussian</type>
          <rate>
            <mean>0</mean>
            <stddev>0.0002</stddev>
            <bias_mean>7.5e-06</bias_mean>
            <bias_stddev>8e-07</bias_stddev>
          </rate>
          <accel>
            <mean>0</mean>
            <stddev>0.017</stddev>
            <bias_mean>0.1</bias_mean>
            <bias_stddev>0.001</bias_stddev>
          </accel>
        </noise>
      </imu>
    </sensor>
  </gazebo>
  <link name="rightHazardCamera_Frame">
    <!-- Virtual Link -->
    <inertial>
      <mass value="1e-07"/>
      <origin rpy="0 0 0" xyz="0 0 0"/>
      <inertia ixx="3.33333333333e-22" ixy="0.0" ixz="0.0" iyy="3.33333333333e-22" iyz="0.0" izz="5e-22"/>
    </inertial>
  </link>
  <gazebo reference="rightHazardCamera_Frame">
    <sensor name="rightHazardCamera" type="camera">
      <camera>
        <image>
          <width>1280</width>
          <height>1024</height>
          <format>R8G8B8</format>
        </image>
        <horizontal_fov>1.378</horizontal_fov>
        <clip>
          <near>0.1</near>
          <far>100</far>
        </clip>
      </camera>
      <update_rate>60</update_rate>
    </sensor>
  </gazebo>
  <joint name="rightHazardCamera_Offset" type="fixed">
    <origin rpy="1.57 0.0 1.57" xyz="0.0345 -0.0406 0.1135"/>
    <axis xyz="0 0 1"/>
    <parent link="torso"/>
    <child link="rightHazardCamera_Frame"/>
  </joint>
  <gazebo reference="rightHazardCamera_Offset">
    <implicitSpringDamper>1</implicitSpringDamper>
  </gazebo>
  <link name="leftHazardCamera_Frame">
    <!-- Virtual Link -->
    <inertial>
      <mass value="1e-07"/>
      <origin rpy="0 0 0" xyz="0 0 0"/>
      <inertia ixx="3.33333333333e-22" ixy="0.0" ixz="0.0" iyy="3.33333333333e-22" iyz="0.0" izz="5e-22"/>
    </inertial>
  </link>
  <gazebo reference="leftHazardCamera_Frame">
    <sensor name="leftHazardCamera" type="camera">
      <camera>
        <image>
          <width>1280</width>
          <height>1024</height>
          <format>R8G8B8</format>
        </image>
        <horizontal_fov>1.378</horizontal_fov>
        <clip>
          <near>0.1</near>
          <far>100</far>
        </clip>
      </camera>
      <update_rate>60</update_rate>
    </sensor>
  </gazebo>
  <joint name="leftHazardCamera_Offset" type="fixed">
    <origin rpy="1.57 0.0 1.57" xyz="0.0345 0.0406 0.1135"/>
    <axis xyz="0 0 1"/>
    <parent link="torso"/>
    <child link="leftHazardCamera_Frame"/>
  </joint>
  <gazebo reference="leftHazardCamera_Offset">
    <implicitSpringDamper>1</implicitSpringDamper>
  </gazebo>
  <transmission name="torsoYawTransmission">
    <type>transmission_interface/SimpleTransmission</type>
    <joint name="torsoYaw">
      </joint>
    <actuator name="torsoYaw">
      <node name="/trunk/j1"/>
      <mechanicalReduction>1</mechanicalReduction>
      <api name="TurboDriverDRC_v4"/>
    </actuator>
  </transmission>
  <transmission name="torsoPitchTransmission">
    <type>transmission_interface/SimpleTransmission</type>
    <joint name="torsoPitch">
      </joint>
    <actuator name="waistLeftActuator">
      <node name="/trunk/waist/left_actuator"/>
      <mechanicalReduction>1</mechanicalReduction>
      <api name="TurboDriverDRC_v4"/>
    </actuator>
  </transmission>
  <transmission name="torsoRollTransmission">
    <type>transmission_interface/SimpleTransmission</type>
    <joint name="torsoRoll">
      </joint>
    <actuator name="waistRightActuator">
      <node name="/trunk/waist/right_actuator"/>
      <mechanicalReduction>1</mechanicalReduction>
      <api name="TurboDriverDRC_v4"/>
    </actuator>
  </transmission>
  <transmission name="leftHipYawTransmission">
    <type>transmission_interface/SimpleTransmission</type>
    <joint name="leftHipYaw">
      </joint>
    <actuator name="leftHipYaw">
      <node name="/left_leg/j1"/>
      <mechanicalReduction>1</mechanicalReduction>
      <api name="TurboDriverDRC_v4"/>
    </actuator>
  </transmission>
  <transmission name="leftHipRollTransmission">
    <type>transmission_interface/SimpleTransmission</type>
    <joint name="leftHipRoll">
      </joint>
    <actuator name="leftHipRoll">
      <node name="/left_leg/j2"/>
      <mechanicalReduction>1</mechanicalReduction>
      <api name="TurboDriverDRC_v4"/>
    </actuator>
  </transmission>
  <transmission name="leftHipPitchTransmission">
    <type>transmission_interface/SimpleTransmission</type>
    <joint name="leftHipPitch">
      </joint>
    <actuator name="leftHipPitch">
      <node name="/left_leg/j3"/>
      <mechanicalReduction>1</mechanicalReduction>
      <api name="TurboDriverDRC_v4"/>
    </actuator>
  </transmission>
  <transmission name="leftKneePitchTransmission">
    <type>transmission_interface/SimpleTransmission</type>
    <joint name="leftKneePitch">
      </joint>
    <actuator name="leftKneePitch">
      <node name="/left_leg/j4"/>
      <mechanicalReduction>1</mechanicalReduction>
      <api name="TurboDriverDRC_v4"/>
    </actuator>
  </transmission>
  <transmission name="leftAnklePitchTransmission">
    <type>transmission_interface/SimpleTransmission</type>
    <joint name="leftAnklePitch">
      </joint>
    <actuator name="leftAnkleInsideActuator">
      <node name="/left_leg/ankle/left_actuator"/>
      <mechanicalReduction>1</mechanicalReduction>
      <api name="TurboDriverDRC_v4"/>
    </actuator>
  </transmission>
  <transmission name="leftAnkleRollTransmission">
    <type>transmission_interface/SimpleTransmission</type>
    <joint name="leftAnkleRoll">
      </joint>
    <actuator name="leftAnkleOutsideActuator">
      <node name="/left_leg/ankle/right_actuator"/>
      <mechanicalReduction>1</mechanicalReduction>
      <api name="TurboDriverDRC_v4"/>
    </actuator>
  </transmission>
  <transmission name="rightHipYawTransmission">
    <type>transmission_interface/SimpleTransmission</type>
    <joint name="rightHipYaw">
      </joint>
    <actuator name="rightHipYaw">
      <node name="/right_leg/j1"/>
      <mechanicalReduction>1</mechanicalReduction>
      <api name="TurboDriverDRC_v4"/>
    </actuator>
  </transmission>
  <transmission name="rightHipRollTransmission">
    <type>transmission_interface/SimpleTransmission</type>
    <joint name="rightHipRoll">
      </joint>
    <actuator name="rightHipRoll">
      <node name="/right_leg/j2"/>
      <mechanicalReduction>1</mechanicalReduction>
      <api name="TurboDriverDRC_v4"/>
    </actuator>
  </transmission>
  <transmission name="rightHipPitchTransmission">
    <type>transmission_interface/SimpleTransmission</type>
    <joint name="rightHipPitch">
      </joint>
    <actuator name="rightHipPitch">
      <node name="/right_leg/j3"/>
      <mechanicalReduction>1</mechanicalReduction>
      <api name="TurboDriverDRC_v4"/>
    </actuator>
  </transmission>
  <transmission name="rightKneePitchTransmission">
    <type>transmission_interface/SimpleTransmission</type>
    <joint name="rightKneePitch">
      </joint>
    <actuator name="rightKneePitch">
      <node name="/right_leg/j4"/>
      <mechanicalReduction>1</mechanicalReduction>
      <api name="TurboDriverDRC_v4"/>
    </actuator>
  </transmission>
  <transmission name="rightAnklePitchTransmission">
    <type>transmission_interface/SimpleTransmission</type>
    <joint name="rightAnklePitch">
      </joint>
    <actuator name="rightAnkleInsideActuator">
      <node name="/right_leg/ankle/left_actuator"/>
      <mechanicalReduction>1</mechanicalReduction>
      <api name="TurboDriverDRC_v4"/>
    </actuator>
  </transmission>
  <transmission name="rightAnkleRollTransmission">
    <type>transmission_interface/SimpleTransmission</type>
    <joint name="rightAnkleRoll">
      </joint>
    <actuator name="rightAnkleOutsideActuator">
      <node name="/right_leg/ankle/right_actuator"/>
      <mechanicalReduction>1</mechanicalReduction>
      <api name="TurboDriverDRC_v4"/>
    </actuator>
  </transmission>
  <transmission name="leftShoulderPitchTransmission">
    <type>transmission_interface/SimpleTransmission</type>
    <joint name="leftShoulderPitch">
      </joint>
    <actuator name="leftShoulderPitch">
      <node name="/left_arm/j1"/>
      <mechanicalReduction>1</mechanicalReduction>
      <api name="TurboDriverDRC_v4"/>
    </actuator>
  </transmission>
  <transmission name="leftShoulderRollTransmission">
    <type>transmission_interface/SimpleTransmission</type>
    <joint name="leftShoulderRoll">
      </joint>
    <actuator name="leftShoulderRoll">
      <node name="/left_arm/j2"/>
      <mechanicalReduction>1</mechanicalReduction>
      <api name="TurboDriverDRC_v4"/>
    </actuator>
  </transmission>
  <transmission name="leftShoulderYawTransmission">
    <type>transmission_interface/SimpleTransmission</type>
    <joint name="leftShoulderYaw">
      </joint>
    <actuator name="leftShoulderYaw">
      <node name="/left_arm/j3"/>
      <mechanicalReduction>1</mechanicalReduction>
      <api name="TurboDriverDRC_v4"/>
    </actuator>
  </transmission>
  <transmission name="leftElbowPitchTransmission">
    <type>transmission_interface/SimpleTransmission</type>
    <joint name="leftElbowPitch">
      </joint>
    <actuator name="leftElbowPitch">
      <node name="/left_arm/j4"/>
      <mechanicalReduction>1</mechanicalReduction>
      <api name="TurboDriverDRC_v4"/>
    </actuator>
  </transmission>
  <transmission name="leftForearmYawTransmission">
    <type>transmission_interface/SimpleTransmission</type>
    <joint name="leftForearmYaw">
      </joint>
    <actuator name="leftForearmYaw">
      <node name="/left_arm/j5"/>
      <mechanicalReduction>1</mechanicalReduction>
      <api name="TurboDriverDRC_v4"/>
    </actuator>
  </transmission>
  <transmission name="leftWristRollTransmission">
    <type>transmission_interface/SimpleTransmission</type>
    <joint name="leftWristRoll">
      </joint>
    <actuator name="leftWristTopActuator">
      <node name="/left_arm/wrist/top_actautor"/>
      <mechanicalReduction>1</mechanicalReduction>
      <api name="TurboDriverDRC_v4"/>
    </actuator>
  </transmission>
  <transmission name="leftWristPitchTransmission">
    <type>transmission_interface/SimpleTransmission</type>
    <joint name="leftWristPitch">
      </joint>
    <actuator name="leftWristBottomActuator">
      <node name="/left_arm/wrist/bottom_actuator"/>
      <mechanicalReduction>1</mechanicalReduction>
      <api name="TurboDriverDRC_v4"/>
    </actuator>
  </transmission>
  <transmission name="rightShoulderPitchTransmission">
    <type>transmission_interface/SimpleTransmission</type>
    <joint name="rightShoulderPitch">
      </joint>
    <actuator name="rightShoulderPitch">
      <node name="/right_arm/j1"/>
      <mechanicalReduction>1</mechanicalReduction>
      <api name="TurboDriverDRC_v4"/>
    </actuator>
  </transmission>
  <transmission name="rightShoulderRollTransmission">
    <type>transmission_interface/SimpleTransmission</type>
    <joint name="rightShoulderRoll">
      </joint>
    <actuator name="rightShoulderRoll">
      <node name="/right_arm/j2"/>
      <mechanicalReduction>1</mechanicalReduction>
      <api name="TurboDriverDRC_v4"/>
    </actuator>
  </transmission>
  <transmission name="rightShoulderYawTransmission">
    <type>transmission_interface/SimpleTransmission</type>
    <joint name="rightShoulderYaw">
      </joint>
    <actuator name="rightShoulderYaw">
      <node name="/right_arm/j3"/>
      <mechanicalReduction>1</mechanicalReduction>
      <api name="TurboDriverDRC_v4"/>
    </actuator>
  </transmission>
  <transmission name="rightElbowPitchTransmission">
    <type>transmission_interface/SimpleTransmission</type>
    <joint name="rightElbowPitch">
      </joint>
    <actuator name="rightElbowPitch">
      <node name="/right_arm/j4"/>
      <mechanicalReduction>1</mechanicalReduction>
      <api name="TurboDriverDRC_v4"/>
    </actuator>
  </transmission>
  <transmission name="rightForearmYawTransmission">
    <type>transmission_interface/SimpleTransmission</type>
    <joint name="rightForearmYaw">
      </joint>
    <actuator name="rightForearmYaw">
      <node name="/right_arm/j5"/>
      <mechanicalReduction>1</mechanicalReduction>
      <api name="TurboDriverDRC_v4"/>
    </actuator>
  </transmission>
  <transmission name="rightWristRollTransmission">
    <type>transmission_interface/SimpleTransmission</type>
    <joint name="rightWristRoll">
      </joint>
    <actuator name="rightWristTopActuator">
      <node name="/right_arm/wrist/top_actautor"/>
      <mechanicalReduction>1</mechanicalReduction>
      <api name="TurboDriverDRC_v4"/>
    </actuator>
  </transmission>
  <transmission name="rightWristPitchTransmission">
    <type>transmission_interface/SimpleTransmission</type>
    <joint name="rightWristPitch">
      </joint>
    <actuator name="rightWristBottomActuator">
      <node name="/right_arm/wrist/bottom_actuator"/>
      <mechanicalReduction>1</mechanicalReduction>
      <api name="TurboDriverDRC_v4"/>
    </actuator>
  </transmission>
  <transmission name="lowerNeckPitchTransmission">
    <type>transmission_interface/SimpleTransmission</type>
    <joint name="lowerNeckPitch">
      </joint>
    <actuator name="lowerNeckPitch">
      <node name="/neck/j1"/>
      <mechanicalReduction>1</mechanicalReduction>
      <api name="TurboDriverDRC_v4"/>
    </actuator>
  </transmission>
  <transmission name="neckYawTransmission">
    <type>transmission_interface/SimpleTransmission</type>
    <joint name="neckYaw">
      </joint>
    <actuator name="neckYaw">
      <node name="/neck/j2"/>
      <mechanicalReduction>1</mechanicalReduction>
      <api name="TurboDriverDRC_v4"/>
    </actuator>
  </transmission>
  <transmission name="upperNeckPitchTransmission">
    <type>transmission_interface/SimpleTransmission</type>
    <joint name="upperNeckPitch">
      </joint>
    <actuator name="upperNeckPitch">
      <node name="/neck/j3"/>
      <mechanicalReduction>1</mechanicalReduction>
      <api name="TurboDriverDRC_v4"/>
    </actuator>
  </transmission>
  <!-- Head Link Simple Collision Meshes -->
  <link name="head">
    <inertial>
      <origin rpy="0 0 0" xyz="-0.075493 3.3383E-05 0.02774"/>
      <mass value="1.41984"/>
      <inertia ixx="0.0039688" ixy="-1.5797E-06" ixz="-0.00089293" iyy="0.0041178" iyz="-6.8415E-07" izz="0.0035243"/>
    </inertial>
    <!--     <visual>
      <origin xyz="0 0 0" rpy="0 0 0" />
      <geometry>
        <mesh filename="package://val_description/model/meshes/multisense/head.dae" />
      </geometry>
      <material name="">
        <color rgba="0.9098 0.44314 0.031373 1" />
      </material>
    </visual> -->
  </link>
  <link name="hokuyo_link">
    <inertial>
      <origin rpy="0 0 0" xyz="0.032428 0.0004084 -0.0041835"/>
      <mass value="0.057654"/>
      <inertia ixx="3.7174E-05" ixy="4.9927E-08" ixz="1.1015E-05" iyy="4.2412E-05" iyz="-9.8165E-09" izz="4.167E-05"/>
    </inertial>
  </link>
  <gazebo reference="head">
    <mu1>0.9</mu1>
    <mu2>0.9</mu2>
  </gazebo>
  <gazebo reference="hokuyo_link">
    <mu1>0.9</mu1>
    <mu2>0.9</mu2>
  </gazebo>
  <joint name="hokuyo_joint" type="continuous">
    <origin rpy="0 0 0" xyz="-0.0446 0 0.0880"/>
    <parent link="head"/>
    <child link="hokuyo_link"/>
    <axis xyz="1 0 0"/>
    <dynamics damping="0.01" friction="0"/>
  </joint>
  <gazebo reference="hokuyo_joint">
    <implicitSpringDamper>1</implicitSpringDamper>
  </gazebo>
  <!-- Hokuyo Laser -->
  <joint name="head_hokuyo_joint" type="fixed">
    <axis xyz="0 1 0"/>
    <origin rpy="0 0 0" xyz="0.03 0 0.015"/>
    <parent link="hokuyo_link"/>
    <child link="head_hokuyo_frame"/>
  </joint>
  <link name="head_hokuyo_frame">
    <inertial>
      <mass value="1e-5"/>
      <!-- collocate with parent link and remove mass from it -->
      <origin rpy="0 0 0" xyz="0.042428 0.0004084 0.0108165"/>
      <inertia ixx="1e-6" ixy="0" ixz="0" iyy="1e-6" iyz="0" izz="1e-6"/>
    </inertial>
  </link>
  <gazebo reference="head_hokuyo_frame">
    <sensor name="head_hokuyo_sensor" type="gpu_ray">
      <pose>0 0 0 0 0 0</pose>
      <visualize>false</visualize>
      <update_rate>40</update_rate>
      <ray>
        <scan>
          <horizontal>
            <samples>1081</samples>
            <resolution>1</resolution>
            <min_angle>-2.356194</min_angle>
            <max_angle>2.356194</max_angle>
          </horizontal>
        </scan>
        <range>
          <min>0.10</min>
          <max>30.0</max>
          <resolution>0.01</resolution>
        </range>
        <noise>
          <type>gaussian</type>
          <!-- Noise parameters based on published spec for Hokuyo laser
               achieving "+-30mm" accuracy at range < 10m.  A mean of 0.0m and
               stddev of 0.01m will put 99.7% of samples within 0.03m of the true
               reading. -->
          <mean>0.0</mean>
          <stddev>0.01</stddev>
        </noise>
      </ray>
    </sensor>
  </gazebo>
  <!-- Stereo Camera -->
  <joint name="left_camera_frame_joint" type="fixed">
    <!-- optical frame collocated with tilting DOF -->
    <origin xyz="0.0 0.035 -0.002"/>
    <parent link="head"/>
    <child link="left_camera_frame"/>
  </joint>
  <link name="left_camera_frame">
    <inertial>
      <mass value="1e-5"/>
      <!-- collocate with parent link and remove mass from it -->
      <origin xyz="-0.075493 0.035033383 0.02574"/>
      <inertia ixx="1e-6" ixy="0" ixz="0" iyy="1e-6" iyz="0" izz="1e-6"/>
    </inertial>
  </link>
  <joint name="left_camera_optical_frame_joint" type="fixed">
    <origin rpy="-1.5708 0.0 -1.5708" xyz="0 0 0"/>
    <parent link="left_camera_frame"/>
    <child link="left_camera_optical_frame"/>
  </joint>
  <link name="left_camera_optical_frame"/>
  <gazebo reference="left_camera_frame">
    <sensor name="stereo_camera" type="multicamera">
      <!-- see MultiSenseSLPlugin.h for available modes -->
      <update_rate>10.0</update_rate>
      <camera name="left">
        <!-- Spec sheet says 80deg X 45deg @ 1024x544pix.  Based on feedback
             from teams, we're instead doing 80deg X 80deg @ 800x800pix. -->
        <horizontal_fov>1.3962634</horizontal_fov>
        <image>
          <width>1024</width>
          <height>544</height>
          <format>R8G8B8</format>
        </image>
        <clip>
          <near>0.02</near>
          <far>300</far>
        </clip>
        <noise>
          <type>gaussian</type>
          <!-- Noise is sampled independently per pixel on each frame.  
               That pixel's noise value is added to each of its color
               channels, which at that point lie in the range [0,1].
               The stddev value of 0.007 is based on experimental data 
               from a camera in a Sandia hand pointed at a static scene
               in a couple of different lighting conditions.  -->
          <mean>0.0</mean>
          <stddev>0.007</stddev>
        </noise>
      </camera>
      <camera name="right">
        <pose>0 -0.07 0 0 0 0</pose>
        <!-- Spec sheet says 80deg X 45deg @ 1024x544pix. -->
        <horizontal_fov>1.3962634</horizontal_fov>
        <image>
          <width>1024</width>
          <height>544</height>
          <format>R8G8B8</format>
        </image>
        <clip>
          <near>0.02</near>
          <far>300</far>
        </clip>
        <noise>
          <type>gaussian</type>
          <!-- Noise is sampled independently per pixel on each frame.  
               That pixel's noise value is added to each of its color
               channels, which at that point lie in the range [0,1].
               The stddev value of 0.007 is based on experimental data 
               from a camera in a Sandia hand pointed at a static scene
               in a couple of different lighting conditions.  -->
          <mean>0.0</mean>
          <stddev>0.007</stddev>
        </noise>
      </camera>
    </sensor>
  </gazebo>
  <joint name="right_camera_frame_joint" type="fixed">
    <origin xyz="0.0 -0.035 -0.002"/>
    <parent link="head"/>
    <child link="right_camera_frame"/>
  </joint>
  <link name="right_camera_frame">
    <inertial>
      <mass value="1e-5"/>
      <!-- collocate with parent link and remove mass from it -->
      <origin xyz="-0.075493 -0.034966617 0.02574"/>
      <inertia ixx="1e-6" ixy="0" ixz="0" iyy="1e-6" iyz="0" izz="1e-6"/>
    </inertial>
  </link>
  <joint name="right_camera_optical_frame_joint" type="fixed">
    <origin rpy="-1.5708 0.0 -1.5708" xyz="0 0 0"/>
    <parent link="right_camera_frame"/>
    <child link="right_camera_optical_frame"/>
  </joint>
  <link name="right_camera_optical_frame"/>
  <joint name="center_top_led_frame_joint" type="fixed">
    <origin xyz="0.01125 0.0 0.0105"/>
    <parent link="head"/>
    <child link="center_top_led_frame"/>
  </joint>
  <link name="center_top_led_frame">
    <inertial>
      <mass value="1e-5"/>
      <!-- collocate with parent link and remove mass from it -->
      <origin rpy="0 0 0" xyz="-0.064243 0.000033383 0.03824"/>
      <inertia ixx="1e-6" ixy="0" ixz="0" iyy="1e-6" iyz="0" izz="1e-6"/>
    </inertial>
  </link>
  <joint name="center_bottom_led_frame_joint" type="fixed">
    <origin xyz="0.01125 0.0 -0.0155"/>
    <parent link="head"/>
    <child link="center_bottom_led_frame"/>
  </joint>
  <link name="center_bottom_led_frame">
    <inertial>
      <mass value="1e-5"/>
      <!-- collocate with parent link and remove mass from it -->
      <origin rpy="0 0 0" xyz="-0.064243 0.000033383 0.01224"/>
      <inertia ixx="1e-6" ixy="0" ixz="0" iyy="1e-6" iyz="0" izz="1e-6"/>
    </inertial>
  </link>
  <joint name="left_led_frame_joint" type="fixed">
    <origin rpy="0 -0.15 0.53" xyz="-0.01443 0.07452 0.050346"/>
    <parent link="head"/>
    <child link="left_led_frame"/>
  </joint>
  <link name="left_led_frame">
    <inertial>
      <mass value="1e-5"/>
      <!-- collocate with parent link and remove mass from it -->
      <origin rpy="0 -0.15 0.53" xyz="-0.089923 0.074553383 0.078086"/>
      <inertia ixx="1e-6" ixy="0" ixz="0" iyy="1e-6" iyz="0" izz="1e-6"/>
    </inertial>
  </link>
  <joint name="right_led_frame_joint" type="fixed">
    <origin rpy="0 -0.15 -0.53" xyz="-0.01443 -0.07452 0.050346"/>
    <parent link="head"/>
    <child link="right_led_frame"/>
  </joint>
  <link name="right_led_frame">
    <inertial>
      <mass value="1e-5"/>
      <!-- collocate with parent link and remove mass from it -->
      <origin rpy="0 -0.15 -0.53" xyz="-0.089923 -0.074486617 0.07908"/>
      <inertia ixx="1e-6" ixy="0" ixz="0" iyy="1e-6" iyz="0" izz="1e-6"/>
    </inertial>
  </link>
  <!-- imu link -->
  <link name="head_imu_link">
    <inertial>
      <mass value="1e-5"/>
      <!-- collocate with parent link and remove mass from it -->
      <origin rpy="0 0 0" xyz="-0.122993 0.035033383 0.02774"/>
      <inertia ixx="1e-6" ixy="0" ixz="0" iyy="1e-6" iyz="0" izz="1e-6"/>
    </inertial>
  </link>
  <joint name="head_imu_joint" type="fixed">
    <parent link="head"/>
    <child link="head_imu_link"/>
    <!-- putting it at the same z-level as the stereo -->
    <origin rpy="0 0 0" xyz="-0.0475 0.035 0.0"/>
  </joint>
  <gazebo reference="head_imu_link">
    <!-- this is expected to be reparented to head with appropriate offset
         when head_imu_link is reduced by fixed joint reduction -->
    <!-- todo: this is working with gazebo 1.4, need to write a unit test -->
    <sensor name="head_imu_sensor" type="imu">
      <always_on>1</always_on>
      <update_rate>1000.0</update_rate>
      <imu>
        <noise>
          <type>gaussian</type>
          <!-- Noise parameters from Boston Dynamics
               (http://gazebosim.org/wiki/Sensor_noise):
                 rates (rad/s): mean=0, stddev=2e-4
                 accels (m/s/s): mean=0, stddev=1.7e-2
                 rate bias (rad/s): 5e-6 - 1e-5
                 accel bias (m/s/s): 1e-1
               Experimentally, simulation provide rates with noise of
               about 1e-3 rad/s and accels with noise of about 1e-1 m/s/s.
               So we don't expect to see the noise unless number of inner iterations
               are increased.
               We will add bias.  In this model, bias is sampled once for rates
               and once for accels at startup; the sign (negative or positive)
               of each bias is then switched with equal probability.  Thereafter,
               the biases are fixed additive offsets.  We choose
               bias means and stddevs to produce biases close to the provided
               data. -->
          <rate>
            <mean>0.0</mean>
            <stddev>2e-4</stddev>
            <bias_mean>0.0000075</bias_mean>
            <bias_stddev>0.0000008</bias_stddev>
          </rate>
          <accel>
            <mean>0.0</mean>
            <stddev>1.7e-2</stddev>
            <bias_mean>0.1</bias_mean>
            <bias_stddev>0.001</bias_stddev>
          </accel>
        </noise>
      </imu>
    </sensor>
  </gazebo>
  <!-- drake feet mods-->
  <frame link="leftFoot" name="l_foot_sole" rpy="0 0 0" xyz="0.067  0 -0.09"/>
  <frame link="rightFoot" name="r_foot_sole" rpy="0 0 0" xyz="0.067 0 -0.09"/>
  <frame link="leftFoot" name="l_foot_toe" rpy="0 0 0" xyz="0.172  0 -0.09"/>
  <frame link="rightFoot" name="r_foot_toe" rpy="0 0 0" xyz="0.172 0 -0.09"/>
  <!-- end drake feet mods-->
  <!-- drake left hand frames-->
  <link name="l_hand_force_torque">
    <inertial>
      <mass value="0.001"/>
      <origin xyz="0 0 0"/>
      <inertia ixx="0.00001" ixy="0" ixz="0" iyy="0.00001" iyz="0" izz="0.00001"/>
    </inertial>
  </link>
  <joint name="l_hand_force_torque_joint" type="fixed">
    <origin rpy="-1.57079632679 0 1.57079632679" xyz="0 0 0"/>
    <parent link="leftPalm"/>
    <child link="l_hand_force_torque"/>
  </joint>
  <link name="left_palm">
    <inertial>
      <mass value="0.001"/>
      <origin xyz="0 0 0"/>
      <inertia ixx="0.00001" ixy="0" ixz="0" iyy="0.00001" iyz="0" izz="0.00001"/>
    </inertial>
  </link>
  <joint name="left_valkyrie_hand_joint" type="fixed">
    <origin rpy="1.57079632679 1.57079632679 0" xyz="0.08 0 0"/>
    <parent link="l_hand_force_torque"/>
    <child link="left_palm"/>
  </joint>
  <link name="l_hand_face">
    <inertial>
      <mass value="0.001"/>
      <origin xyz="0 0 0"/>
      <inertia ixx="0.00001" ixy="0" ixz="0" iyy="0.00001" iyz="0" izz="0.00001"/>
    </inertial>
  </link>
  <joint name="l_hand_face_joint" type="fixed">
    <origin rpy="3.14159265359 0 1.57079632679" xyz="0.07 0.0 -0.08"/>
    <parent link="l_hand_force_torque"/>
    <child link="l_hand_face"/>
  </joint>
  <!-- end drake left hand frames-->
  <!-- drake right hand frames-->
  <link name="r_hand_force_torque">
    <inertial>
      <mass value="0.001"/>
      <origin xyz="0 0 0"/>
      <inertia ixx="0.00001" ixy="0" ixz="0" iyy="0.00001" iyz="0" izz="0.00001"/>
    </inertial>
  </link>
  <joint name="r_hand_force_torque_joint" type="fixed">
    <origin rpy="-1.57079632679 0 -1.57079632679" xyz="0 0 0"/>
    <parent link="rightPalm"/>
    <child link="r_hand_force_torque"/>
  </joint>
  <link name="right_palm">
    <inertial>
      <mass value="0.001"/>
      <origin xyz="0 0 0"/>
      <inertia ixx="0.00001" ixy="0" ixz="0" iyy="0.00001" iyz="0" izz="0.00001"/>
    </inertial>
  </link>
  <joint name="right_valkyrie_hand_joint" type="fixed">
    <origin rpy="0 -1.57079632679 -1.57079632679" xyz="0.08 0 0"/>
    <parent link="r_hand_force_torque"/>
    <child link="right_palm"/>
  </joint>
  <link name="r_hand_face">
    <inertial>
      <mass value="0.001"/>
      <origin xyz="0 0 0"/>
      <inertia ixx="0.00001" ixy="0" ixz="0" iyy="0.00001" iyz="0" izz="0.00001"/>
    </inertial>
  </link>
  <joint name="r_hand_face_joint" type="fixed">
    <origin rpy="0 0 -1.57079632679" xyz="0.07 0 0.08"/>
    <parent link="r_hand_force_torque"/>
    <child link="r_hand_face"/>
  </joint>
  <!-- end drake right hand frames-->
  <!-- drake collision free groups-->
  <!-- end drake collision free groups-->
  <collision_filter_group name="feet">
    <member link="leftFoot"/>
     _
    <member link="rightFoot"/>
    <ignored_collision_filter_group collision_filter_group="feet"/>
  </collision_filter_group>
  <collision_filter_group name="core">
    <member link="torso"/>
    <member link="torsoYawLink"/>
    <member link="torsoPitchLink"/>
    <member link="pelvis"/>
    <member link="lowerNeckPitchLink"/>
    <member link="neckYawLink"/>
    <member link="upperNeckPitchLink"/>
    <member link="head"/>
    <member link="head_imu_link"/>
    <member link="hokuyo_link"/>
    <member link="rightHipYawLink"/>
    <member link="rightHipRollLink"/>
    <member link="rightHipPitchLink"/>
    <member link="leftHipYawLink"/>
    <member link="leftHipRollLink"/>
    <member link="leftHipPitchLink"/>
    <ignored_collision_filter_group collision_filter_group="core"/>
  </collision_filter_group>
  <collision_filter_group name="ignore_core">
    <member link="rightShoulderRollLink"/>
    <member link="leftShoulderRollLink"/>
    <member link="rightShoulderPitchLink"/>
    <member link="leftShoulderPitchLink"/>
    <ignored_collision_filter_group collision_filter_group="core"/>
    <ignored_collision_filter_group collision_filter_group="ignore_core"/>
  </collision_filter_group>
  <collision_filter_group name="r_uleg">
    <member link="rightHipYawLink"/>
    <member link="rightHipRollLink"/>
    <member link="rightHipPitchLink"/>
    <ignored_collision_filter_group collision_filter_group="core"/>
    <ignored_collision_filter_group collision_filter_group="r_uleg"/>
    <ignored_collision_filter_group collision_filter_group="r_leg"/>
    <ignored_collision_filter_group collision_filter_group="l_uleg"/>
  </collision_filter_group>
  <collision_filter_group name="l_uleg">
    <member link="leftHipYawLink"/>
    <member link="leftHipRollLink"/>
    <member link="leftHipPitchLink"/>
    <ignored_collision_filter_group collision_filter_group="core"/>
    <ignored_collision_filter_group collision_filter_group="r_uleg"/>
    <ignored_collision_filter_group collision_filter_group="l_uleg"/>
    <ignored_collision_filter_group collision_filter_group="l_leg"/>
  </collision_filter_group>
  <collision_filter_group name="r_leg">
    <member link="rightKneePitchLink"/>
    <member link="rightAnklePitchLink"/>
    <member link="rightFoot"/>
    <ignored_collision_filter_group collision_filter_group="r_leg"/>
    <ignored_collision_filter_group collision_filter_group="r_uleg"/>
  </collision_filter_group>
  <collision_filter_group name="l_leg">
    <member link="leftKneePitchLink"/>
    <member link="leftAnklePitchLink"/>
    <member link="leftFoot"/>
    <ignored_collision_filter_group collision_filter_group="l_leg"/>
    <ignored_collision_filter_group collision_filter_group="l_uleg"/>
  </collision_filter_group>
  <collision_filter_group name="r_arm">
    <member link="rightShoulderPitchLink"/>
    <member link="rightShoulderRollLink"/>
    <member link="rightShoulderYawLink"/>
    <member link="rightElbowPitchLink"/>
    <member link="rightForearmLink"/>
    <member link="rightWristRollLink"/>
    <member link="rightPalm"/>
    <member link="right_palm"/>
    <member link="r_hand_force_torque"/>
    <member link="rightIndexFingerPitch1Link"/>
    <member link="rightIndexFingerPitch2Link"/>
    <member link="rightIndexFingerPitch3Link"/>
    <member link="rightMiddleFingerPitch1Link"/>
    <member link="rightMiddleFingerPitch2Link"/>
    <member link="rightMiddleFingerPitch3Link"/>
    <member link="rightPinkyPitch1Link"/>
    <member link="rightPinkyPitch2Link"/>
    <member link="rightPinkyPitch3Link"/>
    <member link="rightThumbPitch1Link"/>
    <member link="rightThumbPitch2Link"/>
    <member link="rightThumbPitch3Link"/>
    <member link="rightThumbRollLink"/>
    <ignored_collision_filter_group collision_filter_group="r_arm"/>
  </collision_filter_group>
  <collision_filter_group name="l_arm">
    <member link="leftShoulderPitchLink"/>
    <member link="leftShoulderRollLink"/>
    <member link="leftShoulderYawLink"/>
    <member link="leftElbowPitchLink"/>
    <member link="leftForearmLink"/>
    <member link="leftWristRollLink"/>
    <member link="leftPalm"/>
    <member link="left_palm"/>
    <member link="l_hand_force_torque"/>
    <member link="leftIndexFingerPitch1Link"/>
    <member link="leftIndexFingerPitch2Link"/>
    <member link="leftIndexFingerPitch3Link"/>
    <member link="leftMiddleFingerPitch1Link"/>
    <member link="leftMiddleFingerPitch2Link"/>
    <member link="leftMiddleFingerPitch3Link"/>
    <member link="leftPinkyPitch1Link"/>
    <member link="leftPinkyPitch2Link"/>
    <member link="leftPinkyPitch3Link"/>
    <member link="leftThumbPitch1Link"/>
    <member link="leftThumbPitch2Link"/>
    <member link="leftThumbPitch3Link"/>
    <member link="leftThumbRollLink"/>
    <ignored_collision_filter_group collision_filter_group="l_arm"/>
  </collision_filter_group>
</robot>
